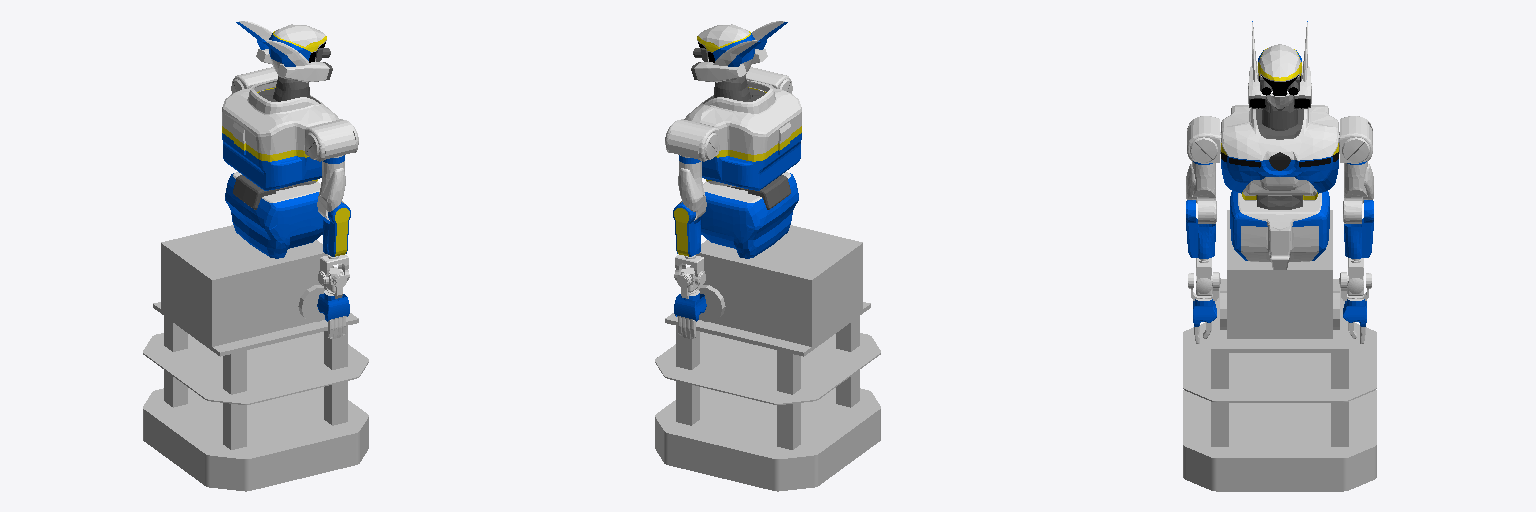
--- What the picture shows (computed from the rendered views, not written in the file) ---
3 views of the same robot in one strip: view 1: azimuth 30°, elevation 25°; view 2: azimuth 150°, elevation 25°; view 3: azimuth 270°, elevation 25° (orthographic).
Model HRP2W with 31 links and 30 joints (20 revolute, 10 fixed), rooted at BODY, posed every joint at zero.
Links seen in each view (by area): view 1: BODY, CHEST_LINK1, HEAD_LINK1, RARM_LINK6, RARM_LINK2, RARM_LINK3, RARM_LINK0, RARM_LINK1, HEAD_LINK0, LARM_LINK0, RARM_LINK4; view 2: BODY, CHEST_LINK1, HEAD_LINK1, LARM_LINK6, LARM_LINK2, LARM_LINK3, LARM_LINK0, LARM_LINK1, HEAD_LINK0, RARM_LINK0, LARM_LINK4; view 3: BODY, CHEST_LINK1, HEAD_LINK1, LARM_LINK2, RARM_LINK2, LARM_LINK0, RARM_LINK0, LARM_LINK3, RARM_LINK3, LARM_LINK6, RARM_LINK6, HEAD_LINK0 (+3 smaller).
Boxes of the visible links, x1,y1,x2,y2 form: BODY: (143, 172, 368, 491); CHEST_LINK1: (222, 80, 339, 190); HEAD_LINK1: (236, 21, 332, 82); RARM_LINK6: (317, 266, 349, 338); RARM_LINK2: (317, 155, 345, 220); RARM_LINK3: (323, 202, 350, 256); RARM_LINK0: (305, 119, 358, 161); RARM_LINK1: (323, 131, 355, 159); HEAD_LINK0: (273, 76, 309, 101); LARM_LINK0: (231, 67, 277, 93); RARM_LINK4: (318, 255, 349, 285); BODY: (655, 172, 880, 491); CHEST_LINK1: (684, 80, 801, 190); HEAD_LINK1: (691, 21, 787, 82); LARM_LINK6: (674, 266, 706, 338); LARM_LINK2: (678, 155, 706, 220); LARM_LINK3: (673, 202, 700, 256); LARM_LINK0: (665, 119, 718, 161); LARM_LINK1: (668, 131, 700, 159); HEAD_LINK0: (714, 76, 750, 101); RARM_LINK0: (746, 67, 792, 93); LARM_LINK4: (674, 255, 705, 285); BODY: (1183, 191, 1376, 491); CHEST_LINK1: (1221, 105, 1338, 200); HEAD_LINK1: (1248, 21, 1311, 108); LARM_LINK2: (1343, 161, 1373, 223); RARM_LINK2: (1186, 161, 1216, 223); LARM_LINK0: (1339, 116, 1372, 163); RARM_LINK0: (1187, 116, 1220, 163); LARM_LINK3: (1344, 200, 1373, 258); RARM_LINK3: (1186, 200, 1215, 258); LARM_LINK6: (1339, 272, 1371, 343); RARM_LINK6: (1188, 272, 1220, 343); HEAD_LINK0: (1262, 93, 1297, 128).
Size in the robot's own frame: 0.6386 by 0.6386 by 1.55 metres.
Meshes: 21 distinct files referenced, 21 mesh visuals loaded (21 Collada DAE).

robot.urdf — HRP2W:
<?xml version="1.0" ?>
<robot name="HRP2W" xmlns:body="http://playerstage.sourceforge.net/gazebo/xmlschema/#body" xmlns:controller="http://playerstage.sourceforge.net/gazebo/xmlschema/#controller" xmlns:gazebo="http://playerstage.sourceforge.net/gazebo/xmlschema/#gz" xmlns:geom="http://playerstage.sourceforge.net/gazebo/xmlschema/#geom" xmlns:interface="http://playerstage.sourceforge.net/gazebo/xmlschema/#interface" xmlns:joint="http://playerstage.sourceforge.net/gazebo/xmlschema/#joint" xmlns:model="http://playerstage.sourceforge.net/gazebo/xmlschema/#model" xmlns:physics="http://playerstage.sourceforge.net/gazebo/xmlschema/#physics" xmlns:renderable="http://playerstage.sourceforge.net/gazebo/xmlschema/#renderable" xmlns:rendering="http://playerstage.sourceforge.net/gazebo/xmlschema/#rendering" xmlns:sensor="http://playerstage.sourceforge.net/gazebo/xmlschema/#sensor" xmlns:xi="http://www.w3.org/2001/XInclude">
	
	
	
	
	
	
	
	
	
	
  
	
	
	
	
	
	
	
	
	
	<link name="BODY">
		
		
		
		
		
		
		
		
		
		
    
		
		
		
		
		
		
		
		
		
		<visual>
			
			
			
			
			
			
			
			
			
			
      
			
			
			
			
			
			
			
			
			
			<origin rpy="0 -0 0" xyz="0 0 0.5805"/>
			
			
			
			
			
			
			
			
			
			
      
			
			
			
			
			
			
			
			
			
			<geometry>
				
				
				
				
				
				
				
				
				
				
        
				
				
				
				
				
				
				
				
				
				<mesh filename="package://hrpsys_ros_bridge_tutorials/models/HRP2W_meshes/BODY_mesh.dae" scale="1 1 1"/>
				
				
				
				
				
				
				
				
				
				
      
			
			
			
			
			
			
			
			
			
			</geometry>
			
			
			
			
			
			
			
			
			
			
    
		
		
		
		
		
		
		
		
		
		</visual>
		
		
		
		
		
		
		
		
		
		
    
		
		
		
		
		
		
		
		
		
		<collision>
			
			
			
			
			
			
			
			
			
			
      
			
			
			
			
			
			
			
			
			
			<origin rpy="0 -0 0" xyz="0 0 0.5805"/>
			
			
			
			
			
			
			
			
			
			
      
			
			
			
			
			
			
			
			
			
			<geometry>
				
				
				
				
				
				
				
				
				
				
        
				
				
				
				
				
				
				
				
				
				<mesh filename="package://hrpsys_ros_bridge_tutorials/models/HRP2W_meshes/BODY_mesh.dae" scale="1 1 1"/>
				
				
				
				
				
				
				
				
				
				
      
			
			
			
			
			
			
			
			
			
			</geometry>
			
			
			
			
			
			
			
			
			
			
    
		
		
		
		
		
		
		
		
		
		</collision>
		
		
		
		
		
		
		
		
		
		
    
		
		
		
		
		
		
		
		
		
		<inertial>
			
			
			
			
			
			
			
			
			
			
      
			
			
			
			
			
			
			
			
			
			<mass value="15.0295"/>
			
			
			
			
			
			
			
			
			
			
      
			
			
			
			
			
			
			
			
			
			<origin rpy="0 -0 0" xyz="-0.0143514 1.2e-07 0.220077"/>
			
			
			
			
			
			
			
			
			
			
      
			
			
			
			
			
			
			
			
			
			<inertia ixx="0.161026" ixy="-2.6504e-07" ixz="0.000706962" iyy="0.09528" iyz="-1.95085e-07" izz="0.191914"/>
			
			
			
			
			
			
			
			
			
			
    
		
		
		
		
		
		
		
		
		
		</inertial>
		
		
		
		
		
		
		
		
		
		
  
	
	
	
	
	
	
	
	
	
	</link>
	
	
	
	
	
	
	
	
	
	
  
	
	
	
	
	
	
	
	
	
	<gazebo reference="BODY">
		
		
		
		
		
		
		
		
		
		
    
		
		
		
		
		
		
		
		
		
		<mu1>0.9</mu1>
		
		
		
		
		
		
		
		
		
		
    
		
		
		
		
		
		
		
		
		
		<mu2>0.9</mu2>
		
		
		
		
		
		
		
		
		
		
  
	
	
	
	
	
	
	
	
	
	</gazebo>
	
	
	
	
	
	
	
	
	
	
  
	
	
	
	
	
	
	
	
	
	<link name="CHEST_LINK0">
		
		
		
		
		
		
		
		
		
		
    
		
		
		
		
		
		
		
		
		
		<visual>
			
			
			
			
			
			
			
			
			
			
      
			
			
			
			
			
			
			
			
			
			<origin rpy="0 -0 0" xyz="0.032 0 0.3507"/>
			
			
			
			
			
			
			
			
			
			
      
			
			
			
			
			
			
			
			
			
			<geometry>
				
				
				
				
				
				
				
				
				
				
        
				
				
				
				
				
				
				
				
				
				<mesh filename="package://hrpsys_ros_bridge_tutorials/models/HRP2W_meshes/CHEST_LINK0_mesh.dae" scale="1 1 1"/>
				
				
				
				
				
				
				
				
				
				
      
			
			
			
			
			
			
			
			
			
			</geometry>
			
			
			
			
			
			
			
			
			
			
    
		
		
		
		
		
		
		
		
		
		</visual>
		
		
		
		
		
		
		
		
		
		
    
		
		
		
		
		
		
		
		
		
		<collision>
			
			
			
			
			
			
			
			
			
			
      
			
			
			
			
			
			
			
			
			
			<origin rpy="0 -0 0" xyz="0.032 0 0.3507"/>
			
			
			
			
			
			
			
			
			
			
      
			
			
			
			
			
			
			
			
			
			<geometry>
				
				
				
				
				
				
				
				
				
				
        
				
				
				
				
				
				
				
				
				
				<mesh filename="package://hrpsys_ros_bridge_tutorials/models/HRP2W_meshes/CHEST_LINK0_mesh.dae" scale="1 1 1"/>
				
				
				
				
				
				
				
				
				
				
      
			
			
			
			
			
			
			
			
			
			</geometry>
			
			
			
			
			
			
			
			
			
			
    
		
		
		
		
		
		
		
		
		
		</collision>
		
		
		
		
		
		
		
		
		
		
    
		
		
		
		
		
		
		
		
		
		<inertial>
			
			
			
			
			
			
			
			
			
			
      
			
			
			
			
			
			
			
			
			
			<mass value="0.786369"/>
			
			
			
			
			
			
			
			
			
			
      
			
			
			
			
			
			
			
			
			
			<origin rpy="0 -0 0" xyz="-0.0158016 0.00529544 -0.0251963"/>
			
			
			
			
			
			
			
			
			
			
      
			
			
			
			
			
			
			
			
			
			<inertia ixx="0.00181617" ixy="-7.322e-05" ixz="-0.00027731" iyy="0.00185079" iyz="-0.00010749" izz="0.00233207"/>
			
			
			
			
			
			
			
			
			
			
    
		
		
		
		
		
		
		
		
		
		</inertial>
		
		
		
		
		
		
		
		
		
		
  
	
	
	
	
	
	
	
	
	
	</link>
	
	
	
	
	
	
	
	
	
	
  
	
	
	
	
	
	
	
	
	
	<gazebo reference="CHEST_LINK0">
		
		
		
		
		
		
		
		
		
		
    
		
		
		
		
		
		
		
		
		
		<mu1>0.9</mu1>
		
		
		
		
		
		
		
		
		
		
    
		
		
		
		
		
		
		
		
		
		<mu2>0.9</mu2>
		
		
		
		
		
		
		
		
		
		
  
	
	
	
	
	
	
	
	
	
	</gazebo>
	
	
	
	
	
	
	
	
	
	
  
	
	
	
	
	
	
	
	
	
	<link name="CHEST_LINK1">
		
		
		
		
		
		
		
		
		
		
    
		
		
		
		
		
		
		
		
		
		<visual>
			
			
			
			
			
			
			
			
			
			
      
			
			
			
			
			
			
			
			
			
			<origin rpy="0 -0 0" xyz="0 0 0"/>
			
			
			
			
			
			
			
			
			
			
      
			
			
			
			
			
			
			
			
			
			<geometry>
				
				
				
				
				
				
				
				
				
				
        
				
				
				
				
				
				
				
				
				
				<mesh filename="package://hrpsys_ros_bridge_tutorials/models/HRP2W_meshes/CHEST_LINK1_mesh.dae" scale="1 1 1"/>
				
				
				
				
				
				
				
				
				
				
      
			
			
			
			
			
			
			
			
			
			</geometry>
			
			
			
			
			
			
			
			
			
			
    
		
		
		
		
		
		
		
		
		
		</visual>
		
		
		
		
		
		
		
		
		
		
    
		
		
		
		
		
		
		
		
		
		<collision>
			
			
			
			
			
			
			
			
			
			
      
			
			
			
			
			
			
			
			
			
			<origin rpy="0 -0 0" xyz="0 0 0"/>
			
			
			
			
			
			
			
			
			
			
      
			
			
			
			
			
			
			
			
			
			<geometry>
				
				
				
				
				
				
				
				
				
				
        
				
				
				
				
				
				
				
				
				
				<mesh filename="package://hrpsys_ros_bridge_tutorials/models/HRP2W_meshes/CHEST_LINK1_mesh.dae" scale="1 1 1"/>
				
				
				
				
				
				
				
				
				
				
      
			
			
			
			
			
			
			
			
			
			</geometry>
			
			
			
			
			
			
			
			
			
			
    
		
		
		
		
		
		
		
		
		
		</collision>
		
		
		
		
		
		
		
		
		
		
    
		
		
		
		
		
		
		
		
		
		<inertial>
			
			
			
			
			
			
			
			
			
			
      
			
			
			
			
			
			
			
			
			
			<mass value="11.5246"/>
			
			
			
			
			
			
			
			
			
			
      
			
			
			
			
			
			
			
			
			
			<origin rpy="0 -0 0" xyz="-0.0290496 0.00716411 0.121025"/>
			
			
			
			
			
			
			
			
			
			
      
			
			
			
			
			
			
			
			
			
			<inertia ixx="0.160476" ixy="-0.00135932" ixz="-0.00414493" iyy="0.136846" iyz="0.00388036" izz="0.181669"/>
			
			
			
			
			
			
			
			
			
			
    
		
		
		
		
		
		
		
		
		
		</inertial>
		
		
		
		
		
		
		
		
		
		
  
	
	
	
	
	
	
	
	
	
	</link>
	
	
	
	
	
	
	
	
	
	
  
	
	
	
	
	
	
	
	
	
	<gazebo reference="CHEST_LINK1">
		
		
		
		
		
		
		
		
		
		
    
		
		
		
		
		
		
		
		
		
		<mu1>0.9</mu1>
		
		
		
		
		
		
		
		
		
		
    
		
		
		
		
		
		
		
		
		
		<mu2>0.9</mu2>
		
		
		
		
		
		
		
		
		
		
  
	
	
	
	
	
	
	
	
	
	</gazebo>
	
	
	
	
	
	
	
	
	
	
  
	
	
	
	
	
	
	
	
	
	<link name="HEAD_LINK0">
		
		
		
		
		
		
		
		
		
		
    
		
		
		
		
		
		
		
		
		
		<visual>
			
			
			
			
			
			
			
			
			
			
      
			
			
			
			
			
			
			
			
			
			<origin rpy="0 -0 0" xyz="-0.007 0 0.2973"/>
			
			
			
			
			
			
			
			
			
			
      
			
			
			
			
			
			
			
			
			
			<geometry>
				
				
				
				
				
				
				
				
				
				
        
				
				
				
				
				
				
				
				
				
				<mesh filename="package://hrpsys_ros_bridge_tutorials/models/HRP2W_meshes/HEAD_LINK0_mesh.dae" scale="1 1 1"/>
				
				
				
				
				
				
				
				
				
				
      
			
			
			
			
			
			
			
			
			
			</geometry>
			
			
			
			
			
			
			
			
			
			
    
		
		
		
		
		
		
		
		
		
		</visual>
		
		
		
		
		
		
		
		
		
		
    
		
		
		
		
		
		
		
		
		
		<collision>
			
			
			
			
			
			
			
			
			
			
      
			
			
			
			
			
			
			
			
			
			<origin rpy="0 -0 0" xyz="-0.007 0 0.2973"/>
			
			
			
			
			
			
			
			
			
			
      
			
			
			
			
			
			
			
			
			
			<geometry>
				
				
				
				
				
				
				
				
				
				
        
				
				
				
				
				
				
				
				
				
				<mesh filename="package://hrpsys_ros_bridge_tutorials/models/HRP2W_meshes/HEAD_LINK0_mesh.dae" scale="1 1 1"/>
				
				
				
				
				
				
				
				
				
				
      
			
			
			
			
			
			
			
			
			
			</geometry>
			
			
			
			
			
			
			
			
			
			
    
		
		
		
		
		
		
		
		
		
		</collision>
		
		
		
		
		
		
		
		
		
		
    
		
		
		
		
		
		
		
		
		
		<inertial>
			
			
			
			
			
			
			
			
			
			
      
			
			
			
			
			
			
			
			
			
			<mass value="0.362181"/>
			
			
			
			
			
			
			
			
			
			
      
			
			
			
			
			
			
			
			
			
			<origin rpy="0 -0 0" xyz="-0.00090801 0.00274824 -0.00825901"/>
			
			
			
			
			
			
			
			
			
			
      
			
			
			
			
			
			
			
			
			
			<inertia ixx="0.00038285" ixy="-5.2e-07" ixz="2.24e-06" iyy="0.00021609" iyz="-7.26e-06" izz="0.0003473"/>
			
			
			
			
			
			
			
			
			
			
    
		
		
		
		
		
		
		
		
		
		</inertial>
		
		
		
		
		
		
		
		
		
		
  
	
	
	
	
	
	
	
	
	
	</link>
	
	
	
	
	
	
	
	
	
	
  
	
	
	
	
	
	
	
	
	
	<gazebo reference="HEAD_LINK0">
		
		
		
		
		
		
		
		
		
		
    
		
		
		
		
		
		
		
		
		
		<mu1>0.9</mu1>
		
		
		
		
		
		
		
		
		
		
    
		
		
		
		
		
		
		
		
		
		<mu2>0.9</mu2>
		
		
		
		
		
		
		
		
		
		
  
	
	
	
	
	
	
	
	
	
	</gazebo>
	
	
	
	
	
	
	
	
	
	
  
	
	
	
	
	
	
	
	
	
	<link name="HEAD_LINK1">
		
		
		
		
		
		
		
		
		
		
    
		
		
		
		
		
		
		
		
		
		<visual>
			
			
			
			
			
			
			
			
			
			
      
			
			
			
			
			
			
			
			
			
			<origin rpy="0 -0 0" xyz="0 0 0.03"/>
			
			
			
			
			
			
			
			
			
			
      
			
			
			
			
			
			
			
			
			
			<geometry>
				
				
				
				
				
				
				
				
				
				
        
				
				
				
				
				
				
				
				
				
				<mesh filename="package://hrpsys_ros_bridge_tutorials/models/HRP2W_meshes/HEAD_LINK1_mesh.dae" scale="1 1 1"/>
				
				
				
				
				
				
				
				
				
				
      
			
			
			
			
			
			
			
			
			
			</geometry>
			
			
			
			
			
			
			
			
			
			
    
		
		
		
		
		
		
		
		
		
		</visual>
		
		
		
		
		
		
		
		
		
		
    
		
		
		
		
		
		
		
		
		
		<collision>
			
			
			
			
			
			
			
			
			
			
      
			
			
			
			
			
			
			
			
			
			<origin rpy="0 -0 0" xyz="0 0 0.03"/>
			
			
			
			
			
			
			
			
			
			
      
			
			
			
			
			
			
			
			
			
			<geometry>
				
				
				
				
				
				
				
				
				
				
        
				
				
				
				
				
				
				
				
				
				<mesh filename="package://hrpsys_ros_bridge_tutorials/models/HRP2W_meshes/HEAD_LINK1_mesh.dae" scale="1 1 1"/>
				
				
				
				
				
				
				
				
				
				
      
			
			
			
			
			
			
			
			
			
			</geometry>
			
			
			
			
			
			
			
			
			
			
    
		
		
		
		
		
		
		
		
		
		</collision>
		
		
		
		
		
		
		
		
		
		
    
		
		
		
		
		
		
		
		
		
		<inertial>
			
			
			
			
			
			
			
			
			
			
      
			
			
			
			
			
			
			
			
			
			<mass value="0.921545"/>
			
			
			
			
			
			
			
			
			
			
      
			
			
			
			
			
			
			
			
			
			<origin rpy="0 -0 0" xyz="0.00900923 -0.00054084 0.0888815"/>
			
			
			
			
			
			
			
			
			
			
      
			
			
			
			
			
			
			
			
			
			<inertia ixx="0.00393357" ixy="4.68e-06" ixz="7.928e-05" iyy="0.00413822" iyz="-9.051e-05" izz="0.00524469"/>
			
			
			
			
			
			
			
			
			
			
    
		
		
		
		
		
		
		
		
		
		</inertial>
		
		
		
		
		
		
		
		
		
		
  
	
	
	
	
	
	
	
	
	
	</link>
	
	
	
	
	
	
	
	
	
	
  
	
	
	
	
	
	
	
	
	
	<gazebo reference="HEAD_LINK1">
		
		
		
		
		
		
		
		
		
		
    
		
		
		
		
		
		
		
		
		
		<mu1>0.9</mu1>
		
		
		
		
		
		
		
		
		
		
    
		
		
		
		
		
		
		
		
		
		<mu2>0.9</mu2>
		
		
		
		
		
		
		
		
		
		
  
	
	
	
	
	
	
	
	
	
	</gazebo>
	
	
	
	
	
	
	
	
	
	
  
	
	
	
	
	
	
	
	
	
	<link name="LARM_LINK0">
		
		
		
		
		
		
		
		
		
		
    
		
		
		
		
		
		
		
		
		
		<visual>
			
			
			
			
			
			
			
			
			
			
      
			
			
			
			
			
			
			
			
			
			<origin rpy="0 -0 0" xyz="0.008 0.25 0.181"/>
			
			
			
			
			
			
			
			
			
			
      
			
			
			
			
			
			
			
			
			
			<geometry>
				
				
				
				
				
				
				
				
				
				
        
				
				
				
				
				
				
				
				
				
				<mesh filename="package://hrpsys_ros_bridge_tutorials/models/HRP2W_meshes/LARM_LINK0_mesh.dae" scale="1 1 1"/>
				
				
				
				
				
				
				
				
				
				
      
			
			
			
			
			
			
			
			
			
			</geometry>
			
			
			
			
			
			
			
			
			
			
    
		
		
		
		
		
		
		
		
		
		</visual>
		
		
		
		
		
		
		
		
		
		
    
		
		
		
		
		
		
		
		
		
		<collision>
			
			
			
			
			
			
			
			
			
			
      
			
			
			
			
			
			
			
			
			
			<origin rpy="0 -0 0" xyz="0.008 0.25 0.181"/>
			
			
			
			
			
			
			
			
			
			
      
			
			
			
			
			
			
			
			
			
			<geometry>
				
				
				
				
				
				
				
				
				
				
        
				
				
				
				
				
				
				
				
				
				<mesh filename="package://hrpsys_ros_bridge_tutorials/models/HRP2W_meshes/LARM_LINK0_mesh.dae" scale="1 1 1"/>
				
				
				
				
				
				
				
				
				
				
      
			
			
			
			
			
			
			
			
			
			</geometry>
			
			
			
			
			
			
			
			
			
			
    
		
		
		
		
		
		
		
		
		
		</collision>
		
		
		
		
		
		
		
		
		
		
    
		
		
		
		
		
		
		
		
		
		<inertial>
			
			
			
			
			
			
			
			
			
			
      
			
			
			
			
			
			
			
			
			
			<mass value="0.810076"/>
			
			
			
			
			
			
			
			
			
			
      
			
			
			
			
			
			
			
			
			
			<origin rpy="0 -0 0" xyz="-0.00989448 -0.0464526 -0.00015316"/>
			
			
			
			
			
			
			
			
			
			
      
			
			
			
			
			
			
			
			
			
			<inertia ixx="0.00221115" ixy="0.00030424" ixz="1.47e-06" iyy="0.00184189" iyz="-4.667e-05" izz="0.00344772"/>
			
			
			
			
			
			
			
			
			
			
    
		
		
		
		
		
		
		
		
		
		</inertial>
		
		
		
		
		
		
		
		
		
		
  
	
	
	
	
	
	
	
	
	
	</link>
	
	
	
	
	
	
	
	
	
	
  
	
	
	
	
	
	
	
	
	
	<gazebo reference="LARM_LINK0">
		
		
		
		
		
		
		
		
		
		
    
		
		
		
		
		
		
		
		
		
		<mu1>0.9</mu1>
		
		
		
		
		
		
		
		
		
		
    
		
		
		
		
		
		
		
		
		
		<mu2>0.9</mu2>
		
		
		
		
		
		
		
		
		
		
  
	
	
	
	
	
	
	
	
	
	</gazebo>
	
	
	
	
	
	
	
	
	
	
  
	
	
	
	
	
	
	
	
	
	<link name="LARM_LINK1">
		
		
		
		
		
		
		
		
		
		
    
		
		
		
		
		
		
		
		
		
		<visual>
			
			
			
			
			
			
			
			
			
			
      
			
			
			
			
			
			
			
			
			
			<origin rpy="0 -0 0" xyz="0 0 0"/>
			
			
			
			
			
			
			
			
			
			
      
			
			
			
			
			
			
			
			
			
			<geometry>
				
				
				
				
				
				
				
				
				
				
        
				
				
				
				
				
				
				
				
				
				<mesh filename="package://hrpsys_ros_bridge_tutorials/models/HRP2W_meshes/LARM_LINK1_mesh.dae" scale="1 1 1"/>
				
				
				
				
				
				
				
				
				
				
      
			
			
			
			
			
			
			
			
			
			</geometry>
			
			
			
			
			
			
			
			
			
			
    
		
		
		
		
		
		
		
		
		
		</visual>
		
		
		
		
		
		
		
		
		
		
    
		
		
		
		
		
		
		
		
		
		<collision>
			
			
			
			
			
			
			
			
			
			
      
			
			
			
			
			
			
			
			
			
			<origin rpy="0 -0 0" xyz="0 0 0"/>
			
			
			
			
			
			
			
			
			
			
      
			
			
			
			
			
			
			
			
			
			<geometry>
				
				
				
				
				
				
				
				
				
				
        
				
				
				
				
				
				
				
				
				
				<mesh filename="package://hrpsys_ros_bridge_tutorials/models/HRP2W_meshes/LARM_LINK1_mesh.dae" scale="1 1 1"/>
				
				
				
				
				
				
				
				
				
				
      
			
			
			
			
			
			
			
			
			
			</geometry>
			
			
			
			
			
			
			
			
			
			
    
		
		
		
		
		
		
		
		
		
		</collision>
		
		
		
		
		
		
		
		
		
		
    
		
		
		
		
		
		
		
		
		
		<inertial>
			
			
			
			
			
			
			
			
			
			
      
			
			
			
			
			
			
			
			
			
			<mass value="1.03448"/>
			
			
			
			
			
			
			
			
			
			
      
			
			
			
			
			
			
			
			
			
			<origin rpy="0 -0 0" xyz="-0.0105646 0.0120429 -0.00948156"/>
			
			
			
			
			
			
			
			
			
			
      
			
			
			
			
			
			
			
			
			
			<inertia ixx="0.00122098" ixy="-0.00028119" ixz="9.407e-05" iyy="0.00172216" iyz="-0.00012041" izz="0.00161319"/>
			
			
			
			
			
			
			
			
			
			
    
		
		
		
		
		
		
		
		
		
		</inertial>
		
		
		
		
		
		
		
		
		
		
  
	
	
	
	
	
	
	
	
	
	</link>
	
	
	
	
	
	
	
	
	
	
  
	
	
	
	
	
	
	
	
	
	<gazebo reference="LARM_LINK1">
		
		
		
		
		
		
		
		
		
		
    
		
		
		
		
		
		
		
		
		
		<mu1>0.9</mu1>
		
		
		
		
		
		
		
		
		
		
    
		
		
		
		
		
		
		
		
		
		<mu2>0.9</mu2>
		
		
		
		
		
		
		
		
		
		
  
	
	
	
	
	
	
	
	
	
	</gazebo>
	
	
	
	
	
	
	
	
	
	
  
	
	
	
	
	
	
	
	
	
	<link name="LARM_LINK2">
		
		
		
		
		
		
		
		
		
		
    
		
		
		
		
		
		
		
		
		
		<visual>
			
			
			
			
			
			
			
			
			
			
      
			
			
			
			
			
			
			
			
			
			<origin rpy="0 -0 0" xyz="0 0 0"/>
			
			
			
			
			
			
			
			
			
			
      
			
			
			
			
			
			
			
			
			
			<geometry>
				
				
				
				
				
				
				
				
				
				
        
				
				
				
				
				
				
				
				
				
				<mesh filename="package://hrpsys_ros_bridge_tutorials/models/HRP2W_meshes/LARM_LINK2_mesh.dae" scale="1 1 1"/>
				
				
				
				
				
				
				
				
				
				
      
			
			
			
			
			
			
			
			
			
			</geometry>
			
			
			
			
			
			
			
			
			
			
    
		
		
		
		
		
		
		
		
		
		</visual>
		
		
		
		
		
		
		
		
		
		
    
		
		
		
		
		
		
		
		
		
		<collision>
			
			
			
			
			
			
			
			
			
			
      
			
			
			
			
			
			
			
			
			
			<origin rpy="0 -0 0" xyz="0 0 0"/>
			
			
			
			
			
			
			
			
			
			
      
			
			
			
			
			
			
			
			
			
			<geometry>
				
				
				
				
				
				
				
				
				
				
        
				
				
				
				
				
				
				
				
				
				<mesh filename="package://hrpsys_ros_bridge_tutorials/models/HRP2W_meshes/LARM_LINK2_mesh.dae" scale="1 1 1"/>
				
				
				
				
				
				
				
				
				
				
      
			
			
			
			
			
			
			
			
			
			</geometry>
			
			
			
			
			
			
			
			
			
			
    
		
		
		
		
		
		
		
		
		
		</collision>
		
		
		
		
		
		
		
		
		
		
    
		
		
		
		
		
		
		
		
		
		<inertial>
			
			
			
			
			
			
			
			
			
			
      
			
			
			
			
			
			
			
			
			
			<mass value="1.59929"/>
			
			
			
			
			
			
			
			
			
			
      
			
			
			
			
			
			
			
			
			
			<origin rpy="0 -0 0" xyz="-0.00543072 0.00479797 -0.166872"/>
			
			
			
			
			
			
			
			
			
			
      
			
			
			
			
			
			
			
			
			
			<inertia ixx="0.00973049" ixy="5.13304e-05" ixz="-0.000199167" iyy="0.00970372" iyz="-0.000137469" izz="0.00135331"/>
			
			
			
			
			
			
			
			
			
			
    
		
		
		
		
		
		
		
		
		
		</inertial>
		
		
		
		
		
		
		
		
		
		
  
	
	
	
	
	
	
	
	
	
	</link>
	
	
	
	
	
	
	
	
	
	
  
	
	
	
	
	
	
	
	
	
	<gazebo reference="LARM_LINK2">
		
		
		
		
		
		
		
		
		
		
    
		
		
		
		
		
		
		
		
		
		<mu1>0.9</mu1>
		
		
		
		
		
		
		
		
		
		
    
		
		
		
		
		
		
		
		
		
		<mu2>0.9</mu2>
		
		
		
		
		
		
		
		
		
		
  
	
	
	
	
	
	
	
	
	
	</gazebo>
	
	
	
	
	
	
	
	
	
	
  
	
	
	
	
	
	
	
	
	
	<link name="LARM_LINK3">
		
		
		
		
		
		
		
		
		
		
    
		
		
		
		
		
		
		
		
		
		<visual>
			
			
			
			
			
			
			
			
			
			
      
			
			
			
			
			
			
			
			
			
			<origin rpy="0 -0 0" xyz="0 0 -0.25"/>
			
			
			
			
			
			
			
			
			
			
      
			
			
			
			
			
			
			
			
			
			<geometry>
				
				
				
				
				
				
				
				
				
				
        
				
				
				
				
				
				
				
				
				
				<mesh filename="package://hrpsys_ros_bridge_tutorials/models/HRP2W_meshes/LARM_LINK3_mesh.dae" scale="1 1 1"/>
				
				
				
				
				
				
				
				
				
				
      
			
			
			
			
			
			
			
			
			
			</geometry>
			
			
			
			
			
			
			
			
			
			
    
		
		
		
		
		
		
		
		
		
		</visual>
		
		
		
		
		
		
		
		
		
		
    
		
		
		
		
		
		
		
		
		
		<collision>
			
			
			
			
			
			
			
			
			
			
      
			
			
			
			
			
			
			
			
			
			<origin rpy="0 -0 0" xyz="0 0 -0.25"/>
			
			
			
			
			
			
			
			
			
			
      
			
			
			
			
			
			
			
			
			
			<geometry>
				
				
				
				
				
				
				
				
				
				
        
				
				
				
				
				
				
				
				
				
				<mesh filename="package://hrpsys_ros_bridge_tutorials/models/HRP2W_meshes/LARM_LINK3_mesh.dae" scale="1 1 1"/>
				
				
				
				
				
				
				
				
				
				
      
			
			
			
			
			
			
			
			
			
			</geometry>
			
			
			
			
			
			
			
			
			
			
    
		
		
		
		
		
		
		
		
		
		</collision>
		
		
		
		
		
		
		
		
		
		
    
		
		
		
		
		
		
		
		
		
		<inertial>
			
			
			
			
			
			
			
			
			
			
      
			
			
			
			
			
			
			
			
			
			<mass value="0.77725"/>
			
			
			
			
			
			
			
			
			
			
      
			
			
			
			
			
			
			
			
			
			<origin rpy="0 -0 0" xyz="-9.27e-06 0.0161684 -0.0627015"/>
			
			
			
			
			
			
			
			
			
			
      
			
			
			
			
			
			
			
			
			
			<inertia ixx="0.00232668" ixy="-7e-08" ixz="-3.1e-07" iyy="0.00212476" iyz="-0.00015097" izz="0.00056363"/>
			
			
			
			
			
			
			
			
			
			
    
		
		
		
		
		
		
		
		
		
		</inertial>
		
		
		
		
		
		
		
		
		
		
  
	
	
	
	
	
	
	
	
	
	</link>
	
	
	
	
	
	
	
	
	
	
  
	
	
	
	
	
	
	
	
	
	<gazebo reference="LARM_LINK3">
		
		
		
		
		
		
		
		
		
		
    
		
		
		
		
		
		
		
		
		
		<mu1>0.9</mu1>
		
		
		
		
		
		
		
		
		
		
    
		
		
		
		
		
		
		
		
		
		<mu2>0.9</mu2>
		
		
		
		
		
		
		
		
		
		
  
	
	
	
	
	
	
	
	
	
	</gazebo>
	
	
	
	
	
	
	
	
	
	
  
	
	
	
	
	
	
	
	
	
	<link name="LARM_LINK4">
		
		
		
		
		
		
		
		
		
		
    
		
		
		
		
		
		
		
		
		
		<visual>
			
			
			
			
			
			
			
			
			
			
      
			
			
			
			
			
			
			
			
			
			<origin rpy="0 -0 0" xyz="0 0 -0.25"/>
			
			
			
			
			
			
			
			
			
			
      
			
			
			
			
			
			
			
			
			
			<geometry>
				
				
				
				
				
				
				
				
				
				
        
				
				
				
				
				
				
				
				
				
				<mesh filename="package://hrpsys_ros_bridge_tutorials/models/HRP2W_meshes/LARM_LINK4_mesh.dae" scale="1 1 1"/>
				
				
				
				
				
				
				
				
				
				
      
			
			
			
			
			
			
			
			
			
			</geometry>
			
			
			
			
			
			
			
			
			
			
    
		
		
		
		
		
		
		
		
		
		</visual>
		
		
		
		
		
		
		
		
		
		
    
		
		
		
		
		
		
		
		
		
		<collision>
			
			
			
			
			
			
			
			
			
			
      
			
			
			
			
			
			
			
			
			
			<origin rpy="0 -0 0" xyz="0 0 -0.25"/>
			
			
			
			
			
			
			
			
			
			
      
			
			
			
			
			
			
			
			
			
			<geometry>
				
				
				
				
				
				
				
				
				
				
        
				
				
				
				
				
				
				
				
				
				<mesh filename="package://hrpsys_ros_bridge_tutorials/models/HRP2W_meshes/LARM_LINK4_mesh.dae" scale="1 1 1"/>
				
				
				
				
				
				
				
				
				
				
      
			
			
			
			
			
			
			
			
			
			</geometry>
			
			
			
			
			
			
			
			
			
			
    
		
		
		
		
		
		
		
		
		
		</collision>
		
		
		
		
		
		
		
		
		
		
    
		
		
		
		
		
		
		
		
		
		<inertial>
			
			
			
			
			
			
			
			
			
			
      
			
			
			
			
			
			
			
			
			
			<mass value="0.328543"/>
			
			
			
			
			
			
			
			
			
			
      
			
			
			
			
			
			
			
			
			
			<origin rpy="0 -0 0" xyz="-0.00840122 -1.406e-05 0.0472199"/>
			
			
			
			
			
			
			
			
			
			
      
			
			
			
			
			
			
			
			
			
			<inertia ixx="0.00084438" ixy="4e-08" ixz="-0.00013812" iyy="0.00105692" iyz="2.3e-07" izz="0.00034468"/>
			
			
			
			
			
			
			
			
			
			
    
		
		
		
		
		
		
		
		
		
		</inertial>
		
		
		
		
		
		
		
		
		
		
  
	
	
	
	
	
	
	
	
	
	</link>
	
	
	
	
	
	
	
	
	
	
  
	
	
	
	
	
	
	
	
	
	<gazebo reference="LARM_LINK4">
		
		
		
		
		
		
		
		
		
		
    
		
		
		
		
		
		
		
		
		
		<mu1>0.9</mu1>
		
		
		
		
		
		
		
		
		
		
    
		
		
		
		
		
		
		
		
		
		<mu2>0.9</mu2>
		
		
		
		
		
		
		
		
		
		
  
	
	
	
	
	
	
	
	
	
	</gazebo>
	
	
	
	
	
	
	
	
	
	
  
	
	
	
	
	
	
	
	
	
	<link name="LARM_LINK5">
		
		
		
		
		
		
		
		
		
		
    
		
		
		
		
		
		
		
		
		
		<visual>
			
			
			
			
			
			
			
			
			
			
      
			
			
			
			
			
			
			
			
			
			<origin rpy="0 -0 0" xyz="0 0 0"/>
			
			
			
			
			
			
			
			
			
			
      
			
			
			
			
			
			
			
			
			
			<geometry>
				
				
				
				
				
				
				
				
				
				
        
				
				
				
				
				
				
				
				
				
				<mesh filename="package://hrpsys_ros_bridge_tutorials/models/HRP2W_meshes/LARM_LINK5_mesh.dae" scale="1 1 1"/>
				
				
				
				
				
				
				
				
				
				
      
			
			
			
			
			
			
			
			
			
			</geometry>
			
			
			
			
			
			
			
			
			
			
    
		
		
		
		
		
		
		
		
		
		</visual>
		
		
		
		
		
		
		
		
		
		
    
		
		
		
		
		
		
		
		
		
		<collision>
			
			
			
			
			
			
			
			
			
			
      
			
			
			
			
			
			
			
			
			
			<origin rpy="0 -0 0" xyz="0 0 0"/>
			
			
			
			
			
			
			
			
			
			
      
			
			
			
			
			
			
			
			
			
			<geometry>
				
				
				
				
				
				
				
				
				
				
        
				
				
				
				
				
				
				
				
				
				<mesh filename="package://hrpsys_ros_bridge_tutorials/models/HRP2W_meshes/LARM_LINK5_mesh.dae" scale="1 1 1"/>
				
				
				
				
				
				
				
				
				
				
      
			
			
			
			
			
			
			
			
			
			</geometry>
			
			
			
			
			
			
			
			
			
			
    
		
		
		
		
		
		
		
		
		
		</collision>
		
		
		
		
		
		
		
		
		
		
    
		
		
		
		
		
		
		
		
		
		<inertial>
			
			
			
			
			
			
			
			
			
			
      
			
			
			
			
			
			
			
			
			
			<mass value="0.460767"/>
			
			
			
			
			
			
			
			
			
			
      
			
			
			
			
			
			
			
			
			
			<origin rpy="0 -0 0" xyz="0.00361678 0.00180569 -0.00656872"/>
			
			
			
			
			
			
			
			
			
			
      
			
			
			
			
			
			
			
			
			
			<inertia ixx="0.00026432" ixy="3.17e-06" ixz="-1.177e-05" iyy="0.0002938" iyz="-1.08e-05" izz="0.0002986"/>
			
			
			
			
			
			
			
			
			
			
    
		
		
		
		
		
		
		
		
		
		</inertial>
		
		
		
		
		
		
		
		
		
		
  
	
	
	
	
	
	
	
	
	
	</link>
	
	
	
	
	
	
	
	
	
	
  
	
	
	
	
	
	
	
	
	
	<gazebo reference="LARM_LINK5">
		
		
		
		
		
		
		
		
		
		
    
		
		
		
		
		
		
		
		
		
		<mu1>0.9</mu1>
		
		
		
		
		
		
		
		
		
		
    
		
		
		
		
		
		
		
		
		
		<mu2>0.9</mu2>
		
		
		
		
		
		
		
		
		
		
  
	
	
	
	
	
	
	
	
	
	</gazebo>
	
	
	
	
	
	
	
	
	
	
  
	
	
	
	
	
	
	
	
	
	<link name="LARM_LINK6">
		
		
		
		
		
		
		
		
		
		
    
		
		
		
		
		
		
		
		
		
		<visual>
			
			
			
			
			
			
			
			
			
			
      
			
			
			
			
			
			
			
			
			
			<origin rpy="0 -0 0" xyz="0 0 0"/>
			
			
			
			
			
			
			
			
			
			
      
			
			
			
			
			
			
			
			
			
			<geometry>
				
				
				
				
				
				
				
				
				
				
        
				
				
				
				
				
				
				
				
				
				<mesh filename="package://hrpsys_ros_bridge_tutorials/models/HRP2W_meshes/LARM_LINK6_mesh.dae" scale="1 1 1"/>
				
				
				
				
				
				
				
				
				
				
      
			
			
			
			
			
			
			
			
			
			</geometry>
			
			
			
			
			
			
			
			
			
			
    
		
		
		
		
		
		
		
		
		
		</visual>
		
		
		
		
		
		
		
		
		
		
    
		
		
		
		
		
		
		
		
		
		<collision>
			
			
			
			
			
			
			
			
			
			
      
			
			
			
			
			
			
			
			
			
			<origin rpy="0 -0 0" xyz="0 0 0"/>
			
			
			
			
			
			
			
			
			
			
      
			
			
			
			
			
			
			
			
			
			<geometry>
				
				
				
				
				
				
				
				
				
				
        
				
				
				
				
				
				
				
				
				
				<mesh filename="package://hrpsys_ros_bridge_tutorials/models/HRP2W_meshes/LARM_LINK6_mesh.dae" scale="1 1 1"/>
				
				
				
				
				
				
				
				
				
				
      
			
			
			
			
			
			
			
			
			
			</geometry>
			
			
			
			
			
			
			
			
			
			
    
		
		
		
		
		
		
		
		
		
		</collision>
		
		
		
		
		
		
		
		
		
		
    
		
		
		
		
		
		
		
		
		
		<inertial>
			
			
			
			
			
			
			
			
			
			
      
			
			
			
			
			
			
			
			
			
			<mass value="0.756491"/>
			
			
			
			
			
			
			
			
			
			
      
			
			
			
			
			
			
			
			
			
			<origin rpy="0 -0 0" xyz="0.00067085 0.00738842 -0.085722"/>
			
			
			
			
			
			
			
			
			
			
      
			
			
			
			
			
			
			
			
			
			<inertia ixx="0.00227076" ixy="6.3e-07" ixz="3.217e-05" iyy="0.00214173" iyz="-3.72e-06" izz="0.00067255"/>
			
			
			
			
			
			
			
			
			
			
    
		
		
		
		
		
		
		
		
		
		</inertial>
		
		
		
		
		
		
		
		
		
		
  
	
	
	
	
	
	
	
	
	
	</link>
	
	
	
	
	
	
	
	
	
	
  
	
	
	
	
	
	
	
	
	
	<gazebo reference="LARM_LINK6">
		
		
		
		
		
		
		
		
		
		
    
		
		
		
		
		
		
		
		
		
		<mu1>0.9</mu1>
		
		
		
		
		
		
		
		
		
		
    
		
		
		
		
		
		
		
		
		
		<mu2>0.9</mu2>
		
		
		
		
		
		
		
		
		
		
  
	
	
	
	
	
	
	
	
	
	</gazebo>
	
	
	
	
	
	
	
	
	
	
  
	
	
	
	
	
	
	
	
	
	<link name="LARM_LINK7">
		
		
		
		
		
		
		
		
		
		
    
		
		
		
		
		
		
		
		
		
		<visual>
			
			
			
			
			
			
			
			
			
			
      
			
			
			
			
			
			
			
			
			
			<origin rpy="0 -0 0" xyz="0 -0.0169 -0.114"/>
			
			
			
			
			
			
			
			
			
			
      
			
			
			
			
			
			
			
			
			
			<geometry>
				
				
				
				
				
				
				
				
				
				
        
				
				
				
				
				
				
				
				
				
				<mesh filename="package://hrpsys_ros_bridge_tutorials/models/HRP2W_meshes/LARM_LINK7_mesh.dae" scale="1 1 1"/>
				
				
				
				
				
				
				
				
				
				
      
			
			
			
			
			
			
			
			
			
			</geometry>
			
			
			
			
			
			
			
			
			
			
    
		
		
		
		
		
		
		
		
		
		</visual>
		
		
		
		
		
		
		
		
		
		
    
		
		
		
		
		
		
		
		
		
		<collision>
			
			
			
			
			
			
			
			
			
			
      
			
			
			
			
			
			
			
			
			
			<origin rpy="0 -0 0" xyz="0 -0.0169 -0.114"/>
			
			
			
			
			
			
			
			
			
			
      
			
			
			
			
			
			
			
			
			
			<geometry>
				
				
				
				
				
				
				
				
				
				
        
				
				
				
				
				
				
				
				
				
				<mesh filename="package://hrpsys_ros_bridge_tutorials/models/HRP2W_meshes/LARM_LINK7_mesh.dae" scale="1 1 1"/>
				
				
				
				
				
				
				
				
				
				
      
			
			
			
			
			
			
			
			
			
			</geometry>
			
			
			
			
			
			
			
			
			
			
    
		
		
		
		
		
		
		
		
		
		</collision>
		
		
		
		
		
		
		
		
		
		
    
		
		
		
		
		
		
		
		
		
		<inertial>
			
			
			
			
			
			
			
			
			
			
      
			
			
			
			
			
			
			
			
			
			<mass value="0.0843421"/>
			
			
			
			
			
			
			
			
			
			
      
			
			
			
			
			
			
			
			
			
			<origin rpy="0 -0 0" xyz="0.00445476 0.00013498 -0.0281197"/>
			
			
			
			
			
			
			
			
			
			
      
			
			
			
			
			
			
			
			
			
			<inertia ixx="8.154e-05" ixy="-5e-08" ixz="1.084e-05" iyy="8.698e-05" iyz="3.1e-07" izz="1.3e-05"/>
			
			
			
			
			
			
			
			
			
			
    
		
		
		
		
		
		
		
		
		
		</inertial>
		
		
		
		
		
		
		
		
		
		
  
	
	
	
	
	
	
	
	
	
	</link>
	
	
	
	
	
	
	
	
	
	
  
	
	
	
	
	
	
	
	
	
	<gazebo reference="LARM_LINK7">
		
		
		
		
		
		
		
		
		
		
    
		
		
		
		
		
		
		
		
		
		<mu1>0.9</mu1>
		
		
		
		
		
		
		
		
		
		
    
		
		
		
		
		
		
		
		
		
		<mu2>0.9</mu2>
		
		
		
		
		
		
		
		
		
		
  
	
	
	
	
	
	
	
	
	
	</gazebo>
	
	
	
	
	
	
	
	
	
	
  
	
	
	
	
	
	
	
	
	
	<link name="RARM_LINK0">
		
		
		
		
		
		
		
		
		
		
    
		
		
		
		
		
		
		
		
		
		<visual>
			
			
			
			
			
			
			
			
			
			
      
			
			
			
			
			
			
			
			
			
			<origin rpy="0 -0 0" xyz="0.008 -0.25 0.181"/>
			
			
			
			
			
			
			
			
			
			
      
			
			
			
			
			
			
			
			
			
			<geometry>
				
				
				
				
				
				
				
				
				
				
        
				
				
				
				
				
				
				
				
				
				<mesh filename="package://hrpsys_ros_bridge_tutorials/models/HRP2W_meshes/RARM_LINK0_mesh.dae" scale="1 1 1"/>
				
				
				
				
				
				
				
				
				
				
      
			
			
			
			
			
			
			
			
			
			</geometry>
			
			
			
			
			
			
			
			
			
			
    
		
		
		
		
		
		
		
		
		
		</visual>
		
		
		
		
		
		
		
		
		
		
    
		
		
		
		
		
		
		
		
		
		<collision>
			
			
			
			
			
			
			
			
			
			
      
			
			
			
			
			
			
			
			
			
			<origin rpy="0 -0 0" xyz="0.008 -0.25 0.181"/>
			
			
			
			
			
			
			
			
			
			
      
			
			
			
			
			
			
			
			
			
			<geometry>
				
				
				
				
				
				
				
				
				
				
        
				
				
				
				
				
				
				
				
				
				<mesh filename="package://hrpsys_ros_bridge_tutorials/models/HRP2W_meshes/RARM_LINK0_mesh.dae" scale="1 1 1"/>
				
				
				
				
				
				
				
				
				
				
      
			
			
			
			
			
			
			
			
			
			</geometry>
			
			
			
			
			
			
			
			
			
			
    
		
		
		
		
		
		
		
		
		
		</collision>
		
		
		
		
		
		
		
		
		
		
    
		
		
		
		
		
		
		
		
		
		<inertial>
			
			
			
			
			
			
			
			
			
			
      
			
			
			
			
			
			
			
			
			
			<mass value="0.810076"/>
			
			
			
			
			
			
			
			
			
			
      
			
			
			
			
			
			
			
			
			
			<origin rpy="0 -0 0" xyz="-0.00989448 0.0464526 -0.00015316"/>
			
			
			
			
			
			
			
			
			
			
      
			
			
			
			
			
			
			
			
			
			<inertia ixx="0.00221115" ixy="-0.00030424" ixz="1.47e-06" iyy="0.00184189" iyz="4.667e-05" izz="0.00344772"/>
			
			
			
			
			
			
			
			
			
			
    
		
		
		
		
		
		
		
		
		
		</inertial>
		
		
		
		
		
		
		
		
		
		
  
	
	
	
	
	
	
	
	
	
	</link>
	
	
	
	
	
	
	
	
	
	
  
	
	
	
	
	
	
	
	
	
	<gazebo reference="RARM_LINK0">
		
		
		
		
		
		
		
		
		
		
    
		
		
		
		
		
		
		
		
		
		<mu1>0.9</mu1>
		
		
		
		
		
		
		
		
		
		
    
		
		
		
		
		
		
		
		
		
		<mu2>0.9</mu2>
		
		
		
		
		
		
		
		
		
		
  
	
	
	
	
	
	
	
	
	
	</gazebo>
	
	
	
	
	
	
	
	
	
	
  
	
	
	
	
	
	
	
	
	
	<link name="RARM_LINK1">
		
		
		
		
		
		
		
		
		
		
    
		
		
		
		
		
		
		
		
		
		<visual>
			
			
			
			
			
			
			
			
			
			
      
			
			
			
			
			
			
			
			
			
			<origin rpy="0 -0 0" xyz="0 0 0"/>
			
			
			
			
			
			
			
			
			
			
      
			
			
			
			
			
			
			
			
			
			<geometry>
				
				
				
				
				
				
				
				
				
				
        
				
				
				
				
				
				
				
				
				
				<mesh filename="package://hrpsys_ros_bridge_tutorials/models/HRP2W_meshes/RARM_LINK1_mesh.dae" scale="1 1 1"/>
				
				
				
				
				
				
				
				
				
				
      
			
			
			
			
			
			
			
			
			
			</geometry>
			
			
			
			
			
			
			
			
			
			
    
		
		
		
		
		
		
		
		
		
		</visual>
		
		
		
		
		
		
		
		
		
		
    
		
		
		
		
		
		
		
		
		
		<collision>
			
			
			
			
			
			
			
			
			
			
      
			
			
			
			
			
			
			
			
			
			<origin rpy="0 -0 0" xyz="0 0 0"/>
			
			
			
			
			
			
			
			
			
			
      
			
			
			
			
			
			
			
			
			
			<geometry>
				
				
				
				
				
				
				
				
				
				
        
				
				
				
				
				
				
				
				
				
				<mesh filename="package://hrpsys_ros_bridge_tutorials/models/HRP2W_meshes/RARM_LINK1_mesh.dae" scale="1 1 1"/>
				
				
				
				
				
				
				
				
				
				
      
			
			
			
			
			
			
			
			
			
			</geometry>
			
			
			
			
			
			
			
			
			
			
    
		
		
		
		
		
		
		
		
		
		</collision>
		
		
		
		
		
		
		
		
		
		
    
		
		
		
		
		
		
		
		
		
		<inertial>
			
			
			
			
			
			
			
			
			
			
      
			
			
			
			
			
			
			
			
			
			<mass value="1.03448"/>
			
			
			
			
			
			
			
			
			
			
      
			
			
			
			
			
			
			
			
			
			<origin rpy="0 -0 0" xyz="-0.0105646 -0.0120429 -0.00948156"/>
			
			
			
			
			
			
			
			
			
			
      
			
			
			
			
			
			
			
			
			
			<inertia ixx="0.00122098" ixy="0.00028119" ixz="9.407e-05" iyy="0.00172216" iyz="0.00012041" izz="0.00161319"/>
			
			
			
			
			
			
			
			
			
			
    
		
		
		
		
		
		
		
		
		
		</inertial>
		
		
		
		
		
		
		
		
		
		
  
	
	
	
	
	
	
	
	
	
	</link>
	
	
	
	
	
	
	
	
	
	
  
	
	
	
	
	
	
	
	
	
	<gazebo reference="RARM_LINK1">
		
		
		
		
		
		
		
		
		
		
    
		
		
		
		
		
		
		
		
		
		<mu1>0.9</mu1>
		
		
		
		
		
		
		
		
		
		
    
		
		
		
		
		
		
		
		
		
		<mu2>0.9</mu2>
		
		
		
		
		
		
		
		
		
		
  
	
	
	
	
	
	
	
	
	
	</gazebo>
	
	
	
	
	
	
	
	
	
	
  
	
	
	
	
	
	
	
	
	
	<link name="RARM_LINK2">
		
		
		
		
		
		
		
		
		
		
    
		
		
		
		
		
		
		
		
		
		<visual>
			
			
			
			
			
			
			
			
			
			
      
			
			
			
			
			
			
			
			
			
			<origin rpy="0 -0 0" xyz="0 0 0"/>
			
			
			
			
			
			
			
			
			
			
      
			
			
			
			
			
			
			
			
			
			<geometry>
				
				
				
				
				
				
				
				
				
				
        
				
				
				
				
				
				
				
				
				
				<mesh filename="package://hrpsys_ros_bridge_tutorials/models/HRP2W_meshes/RARM_LINK2_mesh.dae" scale="1 1 1"/>
				
				
				
				
				
				
				
				
				
				
      
			
			
			
			
			
			
			
			
			
			</geometry>
			
			
			
			
			
			
			
			
			
			
    
		
		
		
		
		
		
		
		
		
		</visual>
		
		
		
		
		
		
		
		
		
		
    
		
		
		
		
		
		
		
		
		
		<collision>
			
			
			
			
			
			
			
			
			
			
      
			
			
			
			
			
			
			
			
			
			<origin rpy="0 -0 0" xyz="0 0 0"/>
			
			
			
			
			
			
			
			
			
			
      
			
			
			
			
			
			
			
			
			
			<geometry>
				
				
				
				
				
				
				
				
				
				
        
				
				
				
				
				
				
				
				
				
				<mesh filename="package://hrpsys_ros_bridge_tutorials/models/HRP2W_meshes/RARM_LINK2_mesh.dae" scale="1 1 1"/>
				
				
				
				
				
				
				
				
				
				
      
			
			
			
			
			
			
			
			
			
			</geometry>
			
			
			
			
			
			
			
			
			
			
    
		
		
		
		
		
		
		
		
		
		</collision>
		
		
		
		
		
		
		
		
		
		
    
		
		
		
		
		
		
		
		
		
		<inertial>
			
			
			
			
			
			
			
			
			
			
      
			
			
			
			
			
			
			
			
			
			<mass value="1.59929"/>
			
			
			
			
			
			
			
			
			
			
      
			
			
			
			
			
			
			
			
			
			<origin rpy="0 -0 0" xyz="-0.00543072 -0.00479797 -0.166872"/>
			
			
			
			
			
			
			
			
			
			
      
			
			
			
			
			
			
			
			
			
			<inertia ixx="0.00973049" ixy="-5.13304e-05" ixz="-0.000199167" iyy="0.00970372" iyz="0.000137469" izz="0.00135331"/>
			
			
			
			
			
			
			
			
			
			
    
		
		
		
		
		
		
		
		
		
		</inertial>
		
		
		
		
		
		
		
		
		
		
  
	
	
	
	
	
	
	
	
	
	</link>
	
	
	
	
	
	
	
	
	
	
  
	
	
	
	
	
	
	
	
	
	<gazebo reference="RARM_LINK2">
		
		
		
		
		
		
		
		
		
		
    
		
		
		
		
		
		
		
		
		
		<mu1>0.9</mu1>
		
		
		
		
		
		
		
		
		
		
    
		
		
		
		
		
		
		
		
		
		<mu2>0.9</mu2>
		
		
		
		
		
		
		
		
		
		
  
	
	
	
	
	
	
	
	
	
	</gazebo>
	
	
	
	
	
	
	
	
	
	
  
	
	
	
	
	
	
	
	
	
	<link name="RARM_LINK3">
		
		
		
		
		
		
		
		
		
		
    
		
		
		
		
		
		
		
		
		
		<visual>
			
			
			
			
			
			
			
			
			
			
      
			
			
			
			
			
			
			
			
			
			<origin rpy="0 -0 0" xyz="0 0 -0.25"/>
			
			
			
			
			
			
			
			
			
			
      
			
			
			
			
			
			
			
			
			
			<geometry>
				
				
				
				
				
				
				
				
				
				
        
				
				
				
				
				
				
				
				
				
				<mesh filename="package://hrpsys_ros_bridge_tutorials/models/HRP2W_meshes/RARM_LINK3_mesh.dae" scale="1 1 1"/>
				
				
				
				
				
				
				
				
				
				
      
			
			
			
			
			
			
			
			
			
			</geometry>
			
			
			
			
			
			
			
			
			
			
    
		
		
		
		
		
		
		
		
		
		</visual>
		
		
		
		
		
		
		
		
		
		
    
		
		
		
		
		
		
		
		
		
		<collision>
			
			
			
			
			
			
			
			
			
			
      
			
			
			
			
			
			
			
			
			
			<origin rpy="0 -0 0" xyz="0 0 -0.25"/>
			
			
			
			
			
			
			
			
			
			
      
			
			
			
			
			
			
			
			
			
			<geometry>
				
				
				
				
				
				
				
				
				
				
        
				
				
				
				
				
				
				
				
				
				<mesh filename="package://hrpsys_ros_bridge_tutorials/models/HRP2W_meshes/RARM_LINK3_mesh.dae" scale="1 1 1"/>
				
				
				
				
				
				
				
				
				
				
      
			
			
			
			
			
			
			
			
			
			</geometry>
			
			
			
			
			
			
			
			
			
			
    
		
		
		
		
		
		
		
		
		
		</collision>
		
		
		
		
		
		
		
		
		
		
    
		
		
		
		
		
		
		
		
		
		<inertial>
			
			
			
			
			
			
			
			
			
			
      
			
			
			
			
			
			
			
			
			
			<mass value="0.77725"/>
			
			
			
			
			
			
			
			
			
			
      
			
			
			
			
			
			
			
			
			
			<origin rpy="0 -0 0" xyz="-9.27e-06 -0.0161684 -0.0627015"/>
			
			
			
			
			
			
			
			
			
			
      
			
			
			
			
			
			
			
			
			
			<inertia ixx="0.00232668" ixy="7e-08" ixz="-3.1e-07" iyy="0.00212476" iyz="0.00015097" izz="0.00056363"/>
			
			
			
			
			
			
			
			
			
			
    
		
		
		
		
		
		
		
		
		
		</inertial>
		
		
		
		
		
		
		
		
		
		
  
	
	
	
	
	
	
	
	
	
	</link>
	
	
	
	
	
	
	
	
	
	
  
	
	
	
	
	
	
	
	
	
	<gazebo reference="RARM_LINK3">
		
		
		
		
		
		
		
		
		
		
    
		
		
		
		
		
		
		
		
		
		<mu1>0.9</mu1>
		
		
		
		
		
		
		
		
		
		
    
		
		
		
		
		
		
		
		
		
		<mu2>0.9</mu2>
		
		
		
		
		
		
		
		
		
		
  
	
	
	
	
	
	
	
	
	
	</gazebo>
	
	
	
	
	
	
	
	
	
	
  
	
	
	
	
	
	
	
	
	
	<link name="RARM_LINK4">
		
		
		
		
		
		
		
		
		
		
    
		
		
		
		
		
		
		
		
		
		<visual>
			
			
			
			
			
			
			
			
			
			
      
			
			
			
			
			
			
			
			
			
			<origin rpy="0 -0 0" xyz="0 0 -0.25"/>
			
			
			
			
			
			
			
			
			
			
      
			
			
			
			
			
			
			
			
			
			<geometry>
				
				
				
				
				
				
				
				
				
				
        
				
				
				
				
				
				
				
				
				
				<mesh filename="package://hrpsys_ros_bridge_tutorials/models/HRP2W_meshes/RARM_LINK4_mesh.dae" scale="1 1 1"/>
				
				
				
				
				
				
				
				
				
				
      
			
			
			
			
			
			
			
			
			
			</geometry>
			
			
			
			
			
			
			
			
			
			
    
		
		
		
		
		
		
		
		
		
		</visual>
		
		
		
		
		
		
		
		
		
		
    
		
		
		
		
		
		
		
		
		
		<collision>
			
			
			
			
			
			
			
			
			
			
      
			
			
			
			
			
			
			
			
			
			<origin rpy="0 -0 0" xyz="0 0 -0.25"/>
			
			
			
			
			
			
			
			
			
			
      
			
			
			
			
			
			
			
			
			
			<geometry>
				
				
				
				
				
				
				
				
				
				
        
				
				
				
				
				
				
				
				
				
				<mesh filename="package://hrpsys_ros_bridge_tutorials/models/HRP2W_meshes/RARM_LINK4_mesh.dae" scale="1 1 1"/>
				
				
				
				
				
				
				
				
				
				
      
			
			
			
			
			
			
			
			
			
			</geometry>
			
			
			
			
			
			
			
			
			
			
    
		
		
		
		
		
		
		
		
		
		</collision>
		
		
		
		
		
		
		
		
		
		
    
		
		
		
		
		
		
		
		
		
		<inertial>
			
			
			
			
			
			
			
			
			
			
      
			
			
			
			
			
			
			
			
			
			<mass value="0.328543"/>
			
			
			
			
			
			
			
			
			
			
      
			
			
			
			
			
			
			
			
			
			<origin rpy="0 -0 0" xyz="-0.00840122 1.406e-05 0.0472199"/>
			
			
			
			
			
			
			
			
			
			
      
			
			
			
			
			
			
			
			
			
			<inertia ixx="0.00084438" ixy="-4e-08" ixz="-0.00013812" iyy="0.00105692" iyz="-2.3e-07" izz="0.00034468"/>
			
			
			
			
			
			
			
			
			
			
    
		
		
		
		
		
		
		
		
		
		</inertial>
		
		
		
		
		
		
		
		
		
		
  
	
	
	
	
	
	
	
	
	
	</link>
	
	
	
	
	
	
	
	
	
	
  
	
	
	
	
	
	
	
	
	
	<gazebo reference="RARM_LINK4">
		
		
		
		
		
		
		
		
		
		
    
		
		
		
		
		
		
		
		
		
		<mu1>0.9</mu1>
		
		
		
		
		
		
		
		
		
		
    
		
		
		
		
		
		
		
		
		
		<mu2>0.9</mu2>
		
		
		
		
		
		
		
		
		
		
  
	
	
	
	
	
	
	
	
	
	</gazebo>
	
	
	
	
	
	
	
	
	
	
  
	
	
	
	
	
	
	
	
	
	<link name="RARM_LINK5">
		
		
		
		
		
		
		
		
		
		
    
		
		
		
		
		
		
		
		
		
		<visual>
			
			
			
			
			
			
			
			
			
			
      
			
			
			
			
			
			
			
			
			
			<origin rpy="0 -0 0" xyz="0 0 0"/>
			
			
			
			
			
			
			
			
			
			
      
			
			
			
			
			
			
			
			
			
			<geometry>
				
				
				
				
				
				
				
				
				
				
        
				
				
				
				
				
				
				
				
				
				<mesh filename="package://hrpsys_ros_bridge_tutorials/models/HRP2W_meshes/RARM_LINK5_mesh.dae" scale="1 1 1"/>
				
				
				
				
				
				
				
				
				
				
      
			
			
			
			
			
			
			
			
			
			</geometry>
			
			
			
			
			
			
			
			
			
			
    
		
		
		
		
		
		
		
		
		
		</visual>
		
		
		
		
		
		
		
		
		
		
    
		
		
		
		
		
		
		
		
		
		<collision>
			
			
			
			
			
			
			
			
			
			
      
			
			
			
			
			
			
			
			
			
			<origin rpy="0 -0 0" xyz="0 0 0"/>
			
			
			
			
			
			
			
			
			
			
      
			
			
			
			
			
			
			
			
			
			<geometry>
				
				
				
				
				
				
				
				
				
				
        
				
				
				
				
				
				
				
				
				
				<mesh filename="package://hrpsys_ros_bridge_tutorials/models/HRP2W_meshes/RARM_LINK5_mesh.dae" scale="1 1 1"/>
				
				
				
				
				
				
				
				
				
				
      
			
			
			
			
			
			
			
			
			
			</geometry>
			
			
			
			
			
			
			
			
			
			
    
		
		
		
		
		
		
		
		
		
		</collision>
		
		
		
		
		
		
		
		
		
		
    
		
		
		
		
		
		
		
		
		
		<inertial>
			
			
			
			
			
			
			
			
			
			
      
			
			
			
			
			
			
			
			
			
			<mass value="0.460767"/>
			
			
			
			
			
			
			
			
			
			
      
			
			
			
			
			
			
			
			
			
			<origin rpy="0 -0 0" xyz="0.00361678 -0.00180569 -0.00656872"/>
			
			
			
			
			
			
			
			
			
			
      
			
			
			
			
			
			
			
			
			
			<inertia ixx="0.00026432" ixy="-3.17e-06" ixz="-1.177e-05" iyy="0.0002938" iyz="1.08e-05" izz="0.0002986"/>
			
			
			
			
			
			
			
			
			
			
    
		
		
		
		
		
		
		
		
		
		</inertial>
		
		
		
		
		
		
		
		
		
		
  
	
	
	
	
	
	
	
	
	
	</link>
	
	
	
	
	
	
	
	
	
	
  
	
	
	
	
	
	
	
	
	
	<gazebo reference="RARM_LINK5">
		
		
		
		
		
		
		
		
		
		
    
		
		
		
		
		
		
		
		
		
		<mu1>0.9</mu1>
		
		
		
		
		
		
		
		
		
		
    
		
		
		
		
		
		
		
		
		
		<mu2>0.9</mu2>
		
		
		
		
		
		
		
		
		
		
  
	
	
	
	
	
	
	
	
	
	</gazebo>
	
	
	
	
	
	
	
	
	
	
  
	
	
	
	
	
	
	
	
	
	<link name="RARM_LINK6">
		
		
		
		
		
		
		
		
		
		
    
		
		
		
		
		
		
		
		
		
		<visual>
			
			
			
			
			
			
			
			
			
			
      
			
			
			
			
			
			
			
			
			
			<origin rpy="0 -0 0" xyz="0 0 0"/>
			
			
			
			
			
			
			
			
			
			
      
			
			
			
			
			
			
			
			
			
			<geometry>
				
				
				
				
				
				
				
				
				
				
        
				
				
				
				
				
				
				
				
				
				<mesh filename="package://hrpsys_ros_bridge_tutorials/models/HRP2W_meshes/RARM_LINK6_mesh.dae" scale="1 1 1"/>
				
				
				
				
				
				
				
				
				
				
      
			
			
			
			
			
			
			
			
			
			</geometry>
			
			
			
			
			
			
			
			
			
			
    
		
		
		
		
		
		
		
		
		
		</visual>
		
		
		
		
		
		
		
		
		
		
    
		
		
		
		
		
		
		
		
		
		<collision>
			
			
			
			
			
			
			
			
			
			
      
			
			
			
			
			
			
			
			
			
			<origin rpy="0 -0 0" xyz="0 0 0"/>
			
			
			
			
			
			
			
			
			
			
      
			
			
			
			
			
			
			
			
			
			<geometry>
				
				
				
				
				
				
				
				
				
				
        
				
				
				
				
				
				
				
				
				
				<mesh filename="package://hrpsys_ros_bridge_tutorials/models/HRP2W_meshes/RARM_LINK6_mesh.dae" scale="1 1 1"/>
				
				
				
				
				
				
				
				
				
				
      
			
			
			
			
			
			
			
			
			
			</geometry>
			
			
			
			
			
			
			
			
			
			
    
		
		
		
		
		
		
		
		
		
		</collision>
		
		
		
		
		
		
		
		
		
		
    
		
		
		
		
		
		
		
		
		
		<inertial>
			
			
			
			
			
			
			
			
			
			
      
			
			
			
			
			
			
			
			
			
			<mass value="0.756491"/>
			
			
			
			
			
			
			
			
			
			
      
			
			
			
			
			
			
			
			
			
			<origin rpy="0 -0 0" xyz="0.00067085 -0.00738842 -0.085722"/>
			
			
			
			
			
			
			
			
			
			
      
			
			
			
			
			
			
			
			
			
			<inertia ixx="0.00227076" ixy="-6.3e-07" ixz="3.217e-05" iyy="0.00214173" iyz="3.72e-06" izz="0.00067255"/>
			
			
			
			
			
			
			
			
			
			
    
		
		
		
		
		
		
		
		
		
		</inertial>
		
		
		
		
		
		
		
		
		
		
  
	
	
	
	
	
	
	
	
	
	</link>
	
	
	
	
	
	
	
	
	
	
  
	
	
	
	
	
	
	
	
	
	<gazebo reference="RARM_LINK6">
		
		
		
		
		
		
		
		
		
		
    
		
		
		
		
		
		
		
		
		
		<mu1>0.9</mu1>
		
		
		
		
		
		
		
		
		
		
    
		
		
		
		
		
		
		
		
		
		<mu2>0.9</mu2>
		
		
		
		
		
		
		
		
		
		
  
	
	
	
	
	
	
	
	
	
	</gazebo>
	
	
	
	
	
	
	
	
	
	
  
	
	
	
	
	
	
	
	
	
	<link name="RARM_LINK7">
		
		
		
		
		
		
		
		
		
		
    
		
		
		
		
		
		
		
		
		
		<visual>
			
			
			
			
			
			
			
			
			
			
      
			
			
			
			
			
			
			
			
			
			<origin rpy="0 -0 0" xyz="0 0.0169 -0.114"/>
			
			
			
			
			
			
			
			
			
			
      
			
			
			
			
			
			
			
			
			
			<geometry>
				
				
				
				
				
				
				
				
				
				
        
				
				
				
				
				
				
				
				
				
				<mesh filename="package://hrpsys_ros_bridge_tutorials/models/HRP2W_meshes/RARM_LINK7_mesh.dae" scale="1 1 1"/>
				
				
				
				
				
				
				
				
				
				
      
			
			
			
			
			
			
			
			
			
			</geometry>
			
			
			
			
			
			
			
			
			
			
    
		
		
		
		
		
		
		
		
		
		</visual>
		
		
		
		
		
		
		
		
		
		
    
		
		
		
		
		
		
		
		
		
		<collision>
			
			
			
			
			
			
			
			
			
			
      
			
			
			
			
			
			
			
			
			
			<origin rpy="0 -0 0" xyz="0 0.0169 -0.114"/>
			
			
			
			
			
			
			
			
			
			
      
			
			
			
			
			
			
			
			
			
			<geometry>
				
				
				
				
				
				
				
				
				
				
        
				
				
				
				
				
				
				
				
				
				<mesh filename="package://hrpsys_ros_bridge_tutorials/models/HRP2W_meshes/RARM_LINK7_mesh.dae" scale="1 1 1"/>
				
				
				
				
				
				
				
				
				
				
      
			
			
			
			
			
			
			
			
			
			</geometry>
			
			
			
			
			
			
			
			
			
			
    
		
		
		
		
		
		
		
		
		
		</collision>
		
		
		
		
		
		
		
		
		
		
    
		
		
		
		
		
		
		
		
		
		<inertial>
			
			
			
			
			
			
			
			
			
			
      
			
			
			
			
			
			
			
			
			
			<mass value="0.0843421"/>
			
			
			
			
			
			
			
			
			
			
      
			
			
			
			
			
			
			
			
			
			<origin rpy="0 -0 0" xyz="0.00445476 -0.00013498 -0.0281197"/>
			
			
			
			
			
			
			
			
			
			
      
			
			
			
			
			
			
			
			
			
			<inertia ixx="8.154e-05" ixy="5e-08" ixz="1.084e-05" iyy="8.698e-05" iyz="-3.1e-07" izz="1.3e-05"/>
			
			
			
			
			
			
			
			
			
			
    
		
		
		
		
		
		
		
		
		
		</inertial>
		
		
		
		
		
		
		
		
		
		
  
	
	
	
	
	
	
	
	
	
	</link>
	
	
	
	
	
	
	
	
	
	
  
	
	
	
	
	
	
	
	
	
	<gazebo reference="RARM_LINK7">
		
		
		
		
		
		
		
		
		
		
    
		
		
		
		
		
		
		
		
		
		<mu1>0.9</mu1>
		
		
		
		
		
		
		
		
		
		
    
		
		
		
		
		
		
		
		
		
		<mu2>0.9</mu2>
		
		
		
		
		
		
		
		
		
		
  
	
	
	
	
	
	
	
	
	
	</gazebo>
	
	
	
	
	
	
	
	
	
	
  
	
	
	
	
	
	
	
	
	
	<joint name="CHEST_JOINT0" type="revolute">
		
		
		
		
		
		
		
		
		
		
    
		
		
		
		
		
		
		
		
		
		<parent link="BODY"/>
		
		
		
		
		
		
		
		
		
		
    
		
		
		
		
		
		
		
		
		
		<child link="CHEST_LINK0"/>
		
		
		
		
		
		
		
		
		
		
    
		
		
		
		
		
		
		
		
		
		<origin rpy="0 -0 0 " xyz="0.032 0 0.3507"/>
		
		
		
		
		
		
		
		
		
		
    
		
		
		
		
		
		
		
		
		
		<axis xyz="0 0 1"/>
		
		
		
		
		
		
		
		
		
		
    
		
		
		
		
		
		
		
		
		
		<limit effort="151.8" lower="-0.785398" upper="0.785398" velocity="4.40217"/>
		
		
		
		
		
		
		
		
		
		
    
		
		
		
		
		
		
		
		
		
		<dynamics damping="0.2" friction="0"/>
		
		
		
		
		
		
		
		
		
		
  
	
	
	
	
	
	
	
	
	
	</joint>
	
	
	
	
	
	
	
	
	
	
  
	
	
	
	
	
	
	
	
	
	<transmission name="CHEST_JOINT0_trans" type="pr2_mechanism_model/SimpleTransmission">
		
		
		
		
		
		
		
		
		
		
    
		
		
		
		
		
		
		
		
		
		<actuator name="CHEST_JOINT0_motor"/>
		
		
		
		
		
		
		
		
		
		
    
		
		
		
		
		
		
		
		
		
		<joint name="CHEST_JOINT0"/>
		
		
		
		
		
		
		
		
		
		
    
		
		
		
		
		
		
		
		
		
		<mechanicalReduction>1</mechanicalReduction>
		
		
		
		
		
		
		
		
		
		
  
	
	
	
	
	
	
	
	
	
	</transmission>
	
	
	
	
	
	
	
	
	
	
  
	
	
	
	
	
	
	
	
	
	<gazebo reference="CHEST_JOINT0">
		
		
		
		
		
		
		
		
		
		
    
		
		
		
		
		
		
		
		
		
		<cfmDamping>0.4</cfmDamping>
		
		
		
		
		
		
		
		
		
		
  
	
	
	
	
	
	
	
	
	
	</gazebo>
	
	
	
	
	
	
	
	
	
	
  
	
	
	
	
	
	
	
	
	
	<joint name="CHEST_JOINT1" type="revolute">
		
		
		
		
		
		
		
		
		
		
    
		
		
		
		
		
		
		
		
		
		<parent link="CHEST_LINK0"/>
		
		
		
		
		
		
		
		
		
		
    
		
		
		
		
		
		
		
		
		
		<child link="CHEST_LINK1"/>
		
		
		
		
		
		
		
		
		
		
    
		
		
		
		
		
		
		
		
		
		<origin rpy="0 -0 0 " xyz="0 0 0"/>
		
		
		
		
		
		
		
		
		
		
    
		
		
		
		
		
		
		
		
		
		<axis xyz="0 1 0"/>
		
		
		
		
		
		
		
		
		
		
    
		
		
		
		
		
		
		
		
		
		<limit effort="278.9" lower="-0.0872665" upper="1.0472" velocity="2.3963"/>
		
		
		
		
		
		
		
		
		
		
    
		
		
		
		
		
		
		
		
		
		<dynamics damping="0.2" friction="0"/>
		
		
		
		
		
		
		
		
		
		
  
	
	
	
	
	
	
	
	
	
	</joint>
	
	
	
	
	
	
	
	
	
	
  
	
	
	
	
	
	
	
	
	
	<transmission name="CHEST_JOINT1_trans" type="pr2_mechanism_model/SimpleTransmission">
		
		
		
		
		
		
		
		
		
		
    
		
		
		
		
		
		
		
		
		
		<actuator name="CHEST_JOINT1_motor"/>
		
		
		
		
		
		
		
		
		
		
    
		
		
		
		
		
		
		
		
		
		<joint name="CHEST_JOINT1"/>
		
		
		
		
		
		
		
		
		
		
    
		
		
		
		
		
		
		
		
		
		<mechanicalReduction>1</mechanicalReduction>
		
		
		
		
		
		
		
		
		
		
  
	
	
	
	
	
	
	
	
	
	</transmission>
	
	
	
	
	
	
	
	
	
	
  
	
	
	
	
	
	
	
	
	
	<gazebo reference="CHEST_JOINT1">
		
		
		
		
		
		
		
		
		
		
    
		
		
		
		
		
		
		
		
		
		<cfmDamping>0.4</cfmDamping>
		
		
		
		
		
		
		
		
		
		
  
	
	
	
	
	
	
	
	
	
	</gazebo>
	
	
	
	
	
	
	
	
	
	
  
	
	
	
	
	
	
	
	
	
	<joint name="HEAD_JOINT0" type="revolute">
		
		
		
		
		
		
		
		
		
		
    
		
		
		
		
		
		
		
		
		
		<parent link="CHEST_LINK1"/>
		
		
		
		
		
		
		
		
		
		
    
		
		
		
		
		
		
		
		
		
		<child link="HEAD_LINK0"/>
		
		
		
		
		
		
		
		
		
		
    
		
		
		
		
		
		
		
		
		
		<origin rpy="0 -0 0 " xyz="-0.007 0 0.2973"/>
		
		
		
		
		
		
		
		
		
		
    
		
		
		
		
		
		
		
		
		
		<axis xyz="0 0 1"/>
		
		
		
		
		
		
		
		
		
		
    
		
		
		
		
		
		
		
		
		
		<limit effort="9.6" lower="-0.785398" upper="0.785398" velocity="6.87679"/>
		
		
		
		
		
		
		
		
		
		
    
		
		
		
		
		
		
		
		
		
		<dynamics damping="0.2" friction="0"/>
		
		
		
		
		
		
		
		
		
		
  
	
	
	
	
	
	
	
	
	
	</joint>
	
	
	
	
	
	
	
	
	
	
  
	
	
	
	
	
	
	
	
	
	<transmission name="HEAD_JOINT0_trans" type="pr2_mechanism_model/SimpleTransmission">
		
		
		
		
		
		
		
		
		
		
    
		
		
		
		
		
		
		
		
		
		<actuator name="HEAD_JOINT0_motor"/>
		
		
		
		
		
		
		
		
		
		
    
		
		
		
		
		
		
		
		
		
		<joint name="HEAD_JOINT0"/>
		
		
		
		
		
		
		
		
		
		
    
		
		
		
		
		
		
		
		
		
		<mechanicalReduction>1</mechanicalReduction>
		
		
		
		
		
		
		
		
		
		
  
	
	
	
	
	
	
	
	
	
	</transmission>
	
	
	
	
	
	
	
	
	
	
  
	
	
	
	
	
	
	
	
	
	<gazebo reference="HEAD_JOINT0">
		
		
		
		
		
		
		
		
		
		
    
		
		
		
		
		
		
		
		
		
		<cfmDamping>0.4</cfmDamping>
		
		
		
		
		
		
		
		
		
		
  
	
	
	
	
	
	
	
	
	
	</gazebo>
	
	
	
	
	
	
	
	
	
	
  
	
	
	
	
	
	
	
	
	
	<joint name="HEAD_JOINT1" type="revolute">
		
		
		
		
		
		
		
		
		
		
    
		
		
		
		
		
		
		
		
		
		<parent link="HEAD_LINK0"/>
		
		
		
		
		
		
		
		
		
		
    
		
		
		
		
		
		
		
		
		
		<child link="HEAD_LINK1"/>
		
		
		
		
		
		
		
		
		
		
    
		
		
		
		
		
		
		
		
		
		<origin rpy="0 -0 0 " xyz="0 0 0.03"/>
		
		
		
		
		
		
		
		
		
		
    
		
		
		
		
		
		
		
		
		
		<axis xyz="0 1 0"/>
		
		
		
		
		
		
		
		
		
		
    
		
		
		
		
		
		
		
		
		
		<limit effort="15.0857" lower="-0.523599" upper="0.785398" velocity="6.87679"/>
		
		
		
		
		
		
		
		
		
		
    
		
		
		
		
		
		
		
		
		
		<dynamics damping="0.2" friction="0"/>
		
		
		
		
		
		
		
		
		
		
  
	
	
	
	
	
	
	
	
	
	</joint>
	
	
	
	
	
	
	
	
	
	
  
	
	
	
	
	
	
	
	
	
	<transmission name="HEAD_JOINT1_trans" type="pr2_mechanism_model/SimpleTransmission">
		
		
		
		
		
		
		
		
		
		
    
		
		
		
		
		
		
		
		
		
		<actuator name="HEAD_JOINT1_motor"/>
		
		
		
		
		
		
		
		
		
		
    
		
		
		
		
		
		
		
		
		
		<joint name="HEAD_JOINT1"/>
		
		
		
		
		
		
		
		
		
		
    
		
		
		
		
		
		
		
		
		
		<mechanicalReduction>1</mechanicalReduction>
		
		
		
		
		
		
		
		
		
		
  
	
	
	
	
	
	
	
	
	
	</transmission>
	
	
	
	
	
	
	
	
	
	
  
	
	
	
	
	
	
	
	
	
	<gazebo reference="HEAD_JOINT1">
		
		
		
		
		
		
		
		
		
		
    
		
		
		
		
		
		
		
		
		
		<cfmDamping>0.4</cfmDamping>
		
		
		
		
		
		
		
		
		
		
  
	
	
	
	
	
	
	
	
	
	</gazebo>
	
	
	
	
	
	
	
	
	
	
  
	
	
	
	
	
	
	
	
	
	<joint name="LARM_JOINT0" type="revolute">
		
		
		
		
		
		
		
		
		
		
    
		
		
		
		
		
		
		
		
		
		<parent link="CHEST_LINK1"/>
		
		
		
		
		
		
		
		
		
		
    
		
		
		
		
		
		
		
		
		
		<child link="LARM_LINK0"/>
		
		
		
		
		
		
		
		
		
		
    
		
		
		
		
		
		
		
		
		
		<origin rpy="0 -0 0 " xyz="0.008 0.25 0.181"/>
		
		
		
		
		
		
		
		
		
		
    
		
		
		
		
		
		
		
		
		
		<axis xyz="0 1 0"/>
		
		
		
		
		
		
		
		
		
		
    
		
		
		
		
		
		
		
		
		
		<limit effort="160.3" lower="-3.14159" upper="1.0472" velocity="4.17044"/>
		
		
		
		
		
		
		
		
		
		
    
		
		
		
		
		
		
		
		
		
		<dynamics damping="0.2" friction="0"/>
		
		
		
		
		
		
		
		
		
		
  
	
	
	
	
	
	
	
	
	
	</joint>
	
	
	
	
	
	
	
	
	
	
  
	
	
	
	
	
	
	
	
	
	<transmission name="LARM_JOINT0_trans" type="pr2_mechanism_model/SimpleTransmission">
		
		
		
		
		
		
		
		
		
		
    
		
		
		
		
		
		
		
		
		
		<actuator name="LARM_JOINT0_motor"/>
		
		
		
		
		
		
		
		
		
		
    
		
		
		
		
		
		
		
		
		
		<joint name="LARM_JOINT0"/>
		
		
		
		
		
		
		
		
		
		
    
		
		
		
		
		
		
		
		
		
		<mechanicalReduction>1</mechanicalReduction>
		
		
		
		
		
		
		
		
		
		
  
	
	
	
	
	
	
	
	
	
	</transmission>
	
	
	
	
	
	
	
	
	
	
  
	
	
	
	
	
	
	
	
	
	<gazebo reference="LARM_JOINT0">
		
		
		
		
		
		
		
		
		
		
    
		
		
		
		
		
		
		
		
		
		<cfmDamping>0.4</cfmDamping>
		
		
		
		
		
		
		
		
		
		
  
	
	
	
	
	
	
	
	
	
	</gazebo>
	
	
	
	
	
	
	
	
	
	
  
	
	
	
	
	
	
	
	
	
	<joint name="LARM_JOINT1" type="revolute">
		
		
		
		
		
		
		
		
		
		
    
		
		
		
		
		
		
		
		
		
		<parent link="LARM_LINK0"/>
		
		
		
		
		
		
		
		
		
		
    
		
		
		
		
		
		
		
		
		
		<child link="LARM_LINK1"/>
		
		
		
		
		
		
		
		
		
		
    
		
		
		
		
		
		
		
		
		
		<origin rpy="0 -0 0 " xyz="0 0 0"/>
		
		
		
		
		
		
		
		
		
		
    
		
		
		
		
		
		
		
		
		
		<axis xyz="1 0 0"/>
		
		
		
		
		
		
		
		
		
		
    
		
		
		
		
		
		
		
		
		
		<limit effort="100.4" lower="-0.174533" upper="1.65806" velocity="2.4192"/>
		
		
		
		
		
		
		
		
		
		
    
		
		
		
		
		
		
		
		
		
		<dynamics damping="0.2" friction="0"/>
		
		
		
		
		
		
		
		
		
		
  
	
	
	
	
	
	
	
	
	
	</joint>
	
	
	
	
	
	
	
	
	
	
  
	
	
	
	
	
	
	
	
	
	<transmission name="LARM_JOINT1_trans" type="pr2_mechanism_model/SimpleTransmission">
		
		
		
		
		
		
		
		
		
		
    
		
		
		
		
		
		
		
		
		
		<actuator name="LARM_JOINT1_motor"/>
		
		
		
		
		
		
		
		
		
		
    
		
		
		
		
		
		
		
		
		
		<joint name="LARM_JOINT1"/>
		
		
		
		
		
		
		
		
		
		
    
		
		
		
		
		
		
		
		
		
		<mechanicalReduction>1</mechanicalReduction>
		
		
		
		
		
		
		
		
		
		
  
	
	
	
	
	
	
	
	
	
	</transmission>
	
	
	
	
	
	
	
	
	
	
  
	
	
	
	
	
	
	
	
	
	<gazebo reference="LARM_JOINT1">
		
		
		
		
		
		
		
		
		
		
    
		
		
		
		
		
		
		
		
		
		<cfmDamping>0.4</cfmDamping>
		
		
		
		
		
		
		
		
		
		
  
	
	
	
	
	
	
	
	
	
	</gazebo>
	
	
	
	
	
	
	
	
	
	
  
	
	
	
	
	
	
	
	
	
	<joint name="LARM_JOINT2" type="revolute">
		
		
		
		
		
		
		
		
		
		
    
		
		
		
		
		
		
		
		
		
		<parent link="LARM_LINK1"/>
		
		
		
		
		
		
		
		
		
		
    
		
		
		
		
		
		
		
		
		
		<child link="LARM_LINK2"/>
		
		
		
		
		
		
		
		
		
		
    
		
		
		
		
		
		
		
		
		
		<origin rpy="0 -0 0 " xyz="0 0 0"/>
		
		
		
		
		
		
		
		
		
		
    
		
		
		
		
		
		
		
		
		
		<axis xyz="0 0 1"/>
		
		
		
		
		
		
		
		
		
		
    
		
		
		
		
		
		
		
		
		
		<limit effort="48.7" lower="-1.6057" upper="1.6057" velocity="4.15699"/>
		
		
		
		
		
		
		
		
		
		
    
		
		
		
		
		
		
		
		
		
		<dynamics damping="0.2" friction="0"/>
		
		
		
		
		
		
		
		
		
		
  
	
	
	
	
	
	
	
	
	
	</joint>
	
	
	
	
	
	
	
	
	
	
  
	
	
	
	
	
	
	
	
	
	<transmission name="LARM_JOINT2_trans" type="pr2_mechanism_model/SimpleTransmission">
		
		
		
		
		
		
		
		
		
		
    
		
		
		
		
		
		
		
		
		
		<actuator name="LARM_JOINT2_motor"/>
		
		
		
		
		
		
		
		
		
		
    
		
		
		
		
		
		
		
		
		
		<joint name="LARM_JOINT2"/>
		
		
		
		
		
		
		
		
		
		
    
		
		
		
		
		
		
		
		
		
		<mechanicalReduction>1</mechanicalReduction>
		
		
		
		
		
		
		
		
		
		
  
	
	
	
	
	
	
	
	
	
	</transmission>
	
	
	
	
	
	
	
	
	
	
  
	
	
	
	
	
	
	
	
	
	<gazebo reference="LARM_JOINT2">
		
		
		
		
		
		
		
		
		
		
    
		
		
		
		
		
		
		
		
		
		<cfmDamping>0.4</cfmDamping>
		
		
		
		
		
		
		
		
		
		
  
	
	
	
	
	
	
	
	
	
	</gazebo>
	
	
	
	
	
	
	
	
	
	
  
	
	
	
	
	
	
	
	
	
	<joint name="LARM_JOINT3" type="revolute">
		
		
		
		
		
		
		
		
		
		
    
		
		
		
		
		
		
		
		
		
		<parent link="LARM_LINK2"/>
		
		
		
		
		
		
		
		
		
		
    
		
		
		
		
		
		
		
		
		
		<child link="LARM_LINK3"/>
		
		
		
		
		
		
		
		
		
		
    
		
		
		
		
		
		
		
		
		
		<origin rpy="0 -0 0 " xyz="0 0 -0.25"/>
		
		
		
		
		
		
		
		
		
		
    
		
		
		
		
		
		
		
		
		
		<axis xyz="0 1 0"/>
		
		
		
		
		
		
		
		
		
		
    
		
		
		
		
		
		
		
		
		
		<limit effort="108.5" lower="-2.3911" upper="0.0349066" velocity="2.23776"/>
		
		
		
		
		
		
		
		
		
		
    
		
		
		
		
		
		
		
		
		
		<dynamics damping="0.2" friction="0"/>
		
		
		
		
		
		
		
		
		
		
  
	
	
	
	
	
	
	
	
	
	</joint>
	
	
	
	
	
	
	
	
	
	
  
	
	
	
	
	
	
	
	
	
	<transmission name="LARM_JOINT3_trans" type="pr2_mechanism_model/SimpleTransmission">
		
		
		
		
		
		
		
		
		
		
    
		
		
		
		
		
		
		
		
		
		<actuator name="LARM_JOINT3_motor"/>
		
		
		
		
		
		
		
		
		
		
    
		
		
		
		
		
		
		
		
		
		<joint name="LARM_JOINT3"/>
		
		
		
		
		
		
		
		
		
		
    
		
		
		
		
		
		
		
		
		
		<mechanicalReduction>1</mechanicalReduction>
		
		
		
		
		
		
		
		
		
		
  
	
	
	
	
	
	
	
	
	
	</transmission>
	
	
	
	
	
	
	
	
	
	
  
	
	
	
	
	
	
	
	
	
	<gazebo reference="LARM_JOINT3">
		
		
		
		
		
		
		
		
		
		
    
		
		
		
		
		
		
		
		
		
		<cfmDamping>0.4</cfmDamping>
		
		
		
		
		
		
		
		
		
		
  
	
	
	
	
	
	
	
	
	
	</gazebo>
	
	
	
	
	
	
	
	
	
	
  
	
	
	
	
	
	
	
	
	
	<joint name="LARM_JOINT4" type="revolute">
		
		
		
		
		
		
		
		
		
		
    
		
		
		
		
		
		
		
		
		
		<parent link="LARM_LINK3"/>
		
		
		
		
		
		
		
		
		
		
    
		
		
		
		
		
		
		
		
		
		<child link="LARM_LINK4"/>
		
		
		
		
		
		
		
		
		
		
    
		
		
		
		
		
		
		
		
		
		<origin rpy="0 -0 0 " xyz="0 0 -0.25"/>
		
		
		
		
		
		
		
		
		
		
    
		
		
		
		
		
		
		
		
		
		<axis xyz="0 0 1"/>
		
		
		
		
		
		
		
		
		
		
    
		
		
		
		
		
		
		
		
		
		<limit effort="13.9" lower="-1.85005" upper="1.85005" velocity="4.72794"/>
		
		
		
		
		
		
		
		
		
		
    
		
		
		
		
		
		
		
		
		
		<dynamics damping="0.2" friction="0"/>
		
		
		
		
		
		
		
		
		
		
  
	
	
	
	
	
	
	
	
	
	</joint>
	
	
	
	
	
	
	
	
	
	
  
	
	
	
	
	
	
	
	
	
	<transmission name="LARM_JOINT4_trans" type="pr2_mechanism_model/SimpleTransmission">
		
		
		
		
		
		
		
		
		
		
    
		
		
		
		
		
		
		
		
		
		<actuator name="LARM_JOINT4_motor"/>
		
		
		
		
		
		
		
		
		
		
    
		
		
		
		
		
		
		
		
		
		<joint name="LARM_JOINT4"/>
		
		
		
		
		
		
		
		
		
		
    
		
		
		
		
		
		
		
		
		
		<mechanicalReduction>1</mechanicalReduction>
		
		
		
		
		
		
		
		
		
		
  
	
	
	
	
	
	
	
	
	
	</transmission>
	
	
	
	
	
	
	
	
	
	
  
	
	
	
	
	
	
	
	
	
	<gazebo reference="LARM_JOINT4">
		
		
		
		
		
		
		
		
		
		
    
		
		
		
		
		
		
		
		
		
		<cfmDamping>0.4</cfmDamping>
		
		
		
		
		
		
		
		
		
		
  
	
	
	
	
	
	
	
	
	
	</gazebo>
	
	
	
	
	
	
	
	
	
	
  
	
	
	
	
	
	
	
	
	
	<joint name="LARM_JOINT5" type="revolute">
		
		
		
		
		
		
		
		
		
		
    
		
		
		
		
		
		
		
		
		
		<parent link="LARM_LINK4"/>
		
		
		
		
		
		
		
		
		
		
    
		
		
		
		
		
		
		
		
		
		<child link="LARM_LINK5"/>
		
		
		
		
		
		
		
		
		
		
    
		
		
		
		
		
		
		
		
		
		<origin rpy="0 -0 0 " xyz="0 0 0"/>
		
		
		
		
		
		
		
		
		
		
    
		
		
		
		
		
		
		
		
		
		<axis xyz="1 0 0"/>
		
		
		
		
		
		
		
		
		
		
    
		
		
		
		
		
		
		
		
		
		<limit effort="18.74" lower="-1.6057" upper="1.6057" velocity="6.63609"/>
		
		
		
		
		
		
		
		
		
		
    
		
		
		
		
		
		
		
		
		
		<dynamics damping="0.2" friction="0"/>
		
		
		
		
		
		
		
		
		
		
  
	
	
	
	
	
	
	
	
	
	</joint>
	
	
	
	
	
	
	
	
	
	
  
	
	
	
	
	
	
	
	
	
	<transmission name="LARM_JOINT5_trans" type="pr2_mechanism_model/SimpleTransmission">
		
		
		
		
		
		
		
		
		
		
    
		
		
		
		
		
		
		
		
		
		<actuator name="LARM_JOINT5_motor"/>
		
		
		
		
		
		
		
		
		
		
    
		
		
		
		
		
		
		
		
		
		<joint name="LARM_JOINT5"/>
		
		
		
		
		
		
		
		
		
		
    
		
		
		
		
		
		
		
		
		
		<mechanicalReduction>1</mechanicalReduction>
		
		
		
		
		
		
		
		
		
		
  
	
	
	
	
	
	
	
	
	
	</transmission>
	
	
	
	
	
	
	
	
	
	
  
	
	
	
	
	
	
	
	
	
	<gazebo reference="LARM_JOINT5">
		
		
		
		
		
		
		
		
		
		
    
		
		
		
		
		
		
		
		
		
		<cfmDamping>0.4</cfmDamping>
		
		
		
		
		
		
		
		
		
		
  
	
	
	
	
	
	
	
	
	
	</gazebo>
	
	
	
	
	
	
	
	
	
	
  
	
	
	
	
	
	
	
	
	
	<joint name="LARM_JOINT6" type="revolute">
		
		
		
		
		
		
		
		
		
		
    
		
		
		
		
		
		
		
		
		
		<parent link="LARM_LINK5"/>
		
		
		
		
		
		
		
		
		
		
    
		
		
		
		
		
		
		
		
		
		<child link="LARM_LINK6"/>
		
		
		
		
		
		
		
		
		
		
    
		
		
		
		
		
		
		
		
		
		<origin rpy="0 -0 0 " xyz="0 0 0"/>
		
		
		
		
		
		
		
		
		
		
    
		
		
		
		
		
		
		
		
		
		<axis xyz="0 1 0"/>
		
		
		
		
		
		
		
		
		
		
    
		
		
		
		
		
		
		
		
		
		<limit effort="16.02" lower="-1.6057" upper="1.6057" velocity="2.77088"/>
		
		
		
		
		
		
		
		
		
		
    
		
		
		
		
		
		
		
		
		
		<dynamics damping="0.2" friction="0"/>
		
		
		
		
		
		
		
		
		
		
  
	
	
	
	
	
	
	
	
	
	</joint>
	
	
	
	
	
	
	
	
	
	
  
	
	
	
	
	
	
	
	
	
	<transmission name="LARM_JOINT6_trans" type="pr2_mechanism_model/SimpleTransmission">
		
		
		
		
		
		
		
		
		
		
    
		
		
		
		
		
		
		
		
		
		<actuator name="LARM_JOINT6_motor"/>
		
		
		
		
		
		
		
		
		
		
    
		
		
		
		
		
		
		
		
		
		<joint name="LARM_JOINT6"/>
		
		
		
		
		
		
		
		
		
		
    
		
		
		
		
		
		
		
		
		
		<mechanicalReduction>1</mechanicalReduction>
		
		
		
		
		
		
		
		
		
		
  
	
	
	
	
	
	
	
	
	
	</transmission>
	
	
	
	
	
	
	
	
	
	
  
	
	
	
	
	
	
	
	
	
	<gazebo reference="LARM_JOINT6">
		
		
		
		
		
		
		
		
		
		
    
		
		
		
		
		
		
		
		
		
		<cfmDamping>0.4</cfmDamping>
		
		
		
		
		
		
		
		
		
		
  
	
	
	
	
	
	
	
	
	
	</gazebo>
	
	
	
	
	
	
	
	
	
	
  
	
	
	
	
	
	
	
	
	
	<joint name="LARM_JOINT7" type="revolute">
		
		
		
		
		
		
		
		
		
		
    
		
		
		
		
		
		
		
		
		
		<parent link="LARM_LINK6"/>
		
		
		
		
		
		
		
		
		
		
    
		
		
		
		
		
		
		
		
		
		<child link="LARM_LINK7"/>
		
		
		
		
		
		
		
		
		
		
    
		
		
		
		
		
		
		
		
		
		<origin rpy="0 -0 0 " xyz="0 -0.0169 -0.114"/>
		
		
		
		
		
		
		
		
		
		
    
		
		
		
		
		
		
		
		
		
		<axis xyz="1 0 0"/>
		
		
		
		
		
		
		
		
		
		
    
		
		
		
		
		
		
		
		
		
		<limit effort="13.9" lower="-2.0944" upper="0.279253" velocity="4.72794"/>
		
		
		
		
		
		
		
		
		
		
    
		
		
		
		
		
		
		
		
		
		<dynamics damping="0.2" friction="0"/>
		
		
		
		
		
		
		
		
		
		
  
	
	
	
	
	
	
	
	
	
	</joint>
	
	
	
	
	
	
	
	
	
	
  
	
	
	
	
	
	
	
	
	
	<transmission name="LARM_JOINT7_trans" type="pr2_mechanism_model/SimpleTransmission">
		
		
		
		
		
		
		
		
		
		
    
		
		
		
		
		
		
		
		
		
		<actuator name="LARM_JOINT7_motor"/>
		
		
		
		
		
		
		
		
		
		
    
		
		
		
		
		
		
		
		
		
		<joint name="LARM_JOINT7"/>
		
		
		
		
		
		
		
		
		
		
    
		
		
		
		
		
		
		
		
		
		<mechanicalReduction>1</mechanicalReduction>
		
		
		
		
		
		
		
		
		
		
  
	
	
	
	
	
	
	
	
	
	</transmission>
	
	
	
	
	
	
	
	
	
	
  
	
	
	
	
	
	
	
	
	
	<gazebo reference="LARM_JOINT7">
		
		
		
		
		
		
		
		
		
		
    
		
		
		
		
		
		
		
		
		
		<cfmDamping>0.4</cfmDamping>
		
		
		
		
		
		
		
		
		
		
  
	
	
	
	
	
	
	
	
	
	</gazebo>
	
	
	
	
	
	
	
	
	
	
  
	
	
	
	
	
	
	
	
	
	<joint name="RARM_JOINT0" type="revolute">
		
		
		
		
		
		
		
		
		
		
    
		
		
		
		
		
		
		
		
		
		<parent link="CHEST_LINK1"/>
		
		
		
		
		
		
		
		
		
		
    
		
		
		
		
		
		
		
		
		
		<child link="RARM_LINK0"/>
		
		
		
		
		
		
		
		
		
		
    
		
		
		
		
		
		
		
		
		
		<origin rpy="0 -0 0 " xyz="0.008 -0.25 0.181"/>
		
		
		
		
		
		
		
		
		
		
    
		
		
		
		
		
		
		
		
		
		<axis xyz="0 1 0"/>
		
		
		
		
		
		
		
		
		
		
    
		
		
		
		
		
		
		
		
		
		<limit effort="160.3" lower="-3.14159" upper="1.0472" velocity="4.17044"/>
		
		
		
		
		
		
		
		
		
		
    
		
		
		
		
		
		
		
		
		
		<dynamics damping="0.2" friction="0"/>
		
		
		
		
		
		
		
		
		
		
  
	
	
	
	
	
	
	
	
	
	</joint>
	
	
	
	
	
	
	
	
	
	
  
	
	
	
	
	
	
	
	
	
	<transmission name="RARM_JOINT0_trans" type="pr2_mechanism_model/SimpleTransmission">
		
		
		
		
		
		
		
		
		
		
    
		
		
		
		
		
		
		
		
		
		<actuator name="RARM_JOINT0_motor"/>
		
		
		
		
		
		
		
		
		
		
    
		
		
		
		
		
		
		
		
		
		<joint name="RARM_JOINT0"/>
		
		
		
		
		
		
		
		
		
		
    
		
		
		
		
		
		
		
		
		
		<mechanicalReduction>1</mechanicalReduction>
		
		
		
		
		
		
		
		
		
		
  
	
	
	
	
	
	
	
	
	
	</transmission>
	
	
	
	
	
	
	
	
	
	
  
	
	
	
	
	
	
	
	
	
	<gazebo reference="RARM_JOINT0">
		
		
		
		
		
		
		
		
		
		
    
		
		
		
		
		
		
		
		
		
		<cfmDamping>0.4</cfmDamping>
		
		
		
		
		
		
		
		
		
		
  
	
	
	
	
	
	
	
	
	
	</gazebo>
	
	
	
	
	
	
	
	
	
	
  
	
	
	
	
	
	
	
	
	
	<joint name="RARM_JOINT1" type="revolute">
		
		
		
		
		
		
		
		
		
		
    
		
		
		
		
		
		
		
		
		
		<parent link="RARM_LINK0"/>
		
		
		
		
		
		
		
		
		
		
    
		
		
		
		
		
		
		
		
		
		<child link="RARM_LINK1"/>
		
		
		
		
		
		
		
		
		
		
    
		
		
		
		
		
		
		
		
		
		<origin rpy="0 -0 0 " xyz="0 0 0"/>
		
		
		
		
		
		
		
		
		
		
    
		
		
		
		
		
		
		
		
		
		<axis xyz="1 0 0"/>
		
		
		
		
		
		
		
		
		
		
    
		
		
		
		
		
		
		
		
		
		<limit effort="100.4" lower="-1.65806" upper="0.174533" velocity="2.4192"/>
		
		
		
		
		
		
		
		
		
		
    
		
		
		
		
		
		
		
		
		
		<dynamics damping="0.2" friction="0"/>
		
		
		
		
		
		
		
		
		
		
  
	
	
	
	
	
	
	
	
	
	</joint>
	
	
	
	
	
	
	
	
	
	
  
	
	
	
	
	
	
	
	
	
	<transmission name="RARM_JOINT1_trans" type="pr2_mechanism_model/SimpleTransmission">
		
		
		
		
		
		
		
		
		
		
    
		
		
		
		
		
		
		
		
		
		<actuator name="RARM_JOINT1_motor"/>
		
		
		
		
		
		
		
		
		
		
    
		
		
		
		
		
		
		
		
		
		<joint name="RARM_JOINT1"/>
		
		
		
		
		
		
		
		
		
		
    
		
		
		
		
		
		
		
		
		
		<mechanicalReduction>1</mechanicalReduction>
		
		
		
		
		
		
		
		
		
		
  
	
	
	
	
	
	
	
	
	
	</transmission>
	
	
	
	
	
	
	
	
	
	
  
	
	
	
	
	
	
	
	
	
	<gazebo reference="RARM_JOINT1">
		
		
		
		
		
		
		
		
		
		
    
		
		
		
		
		
		
		
		
		
		<cfmDamping>0.4</cfmDamping>
		
		
		
		
		
		
		
		
		
		
  
	
	
	
	
	
	
	
	
	
	</gazebo>
	
	
	
	
	
	
	
	
	
	
  
	
	
	
	
	
	
	
	
	
	<joint name="RARM_JOINT2" type="revolute">
		
		
		
		
		
		
		
		
		
		
    
		
		
		
		
		
		
		
		
		
		<parent link="RARM_LINK1"/>
		
		
		
		
		
		
		
		
		
		
    
		
		
		
		
		
		
		
		
		
		<child link="RARM_LINK2"/>
		
		
		
		
		
		
		
		
		
		
    
		
		
		
		
		
		
		
		
		
		<origin rpy="0 -0 0 " xyz="0 0 0"/>
		
		
		
		
		
		
		
		
		
		
    
		
		
		
		
		
		
		
		
		
		<axis xyz="0 0 1"/>
		
		
		
		
		
		
		
		
		
		
    
		
		
		
		
		
		
		
		
		
		<limit effort="48.7" lower="-1.6057" upper="1.6057" velocity="4.15699"/>
		
		
		
		
		
		
		
		
		
		
    
		
		
		
		
		
		
		
		
		
		<dynamics damping="0.2" friction="0"/>
		
		
		
		
		
		
		
		
		
		
  
	
	
	
	
	
	
	
	
	
	</joint>
	
	
	
	
	
	
	
	
	
	
  
	
	
	
	
	
	
	
	
	
	<transmission name="RARM_JOINT2_trans" type="pr2_mechanism_model/SimpleTransmission">
		
		
		
		
		
		
		
		
		
		
    
		
		
		
		
		
		
		
		
		
		<actuator name="RARM_JOINT2_motor"/>
		
		
		
		
		
		
		
		
		
		
    
		
		
		
		
		
		
		
		
		
		<joint name="RARM_JOINT2"/>
		
		
		
		
		
		
		
		
		
		
    
		
		
		
		
		
		
		
		
		
		<mechanicalReduction>1</mechanicalReduction>
		
		
		
		
		
		
		
		
		
		
  
	
	
	
	
	
	
	
	
	
	</transmission>
	
	
	
	
	
	
	
	
	
	
  
	
	
	
	
	
	
	
	
	
	<gazebo reference="RARM_JOINT2">
		
		
		
		
		
		
		
		
		
		
    
		
		
		
		
		
		
		
		
		
		<cfmDamping>0.4</cfmDamping>
		
		
		
		
		
		
		
		
		
		
  
	
	
	
	
	
	
	
	
	
	</gazebo>
	
	
	
	
	
	
	
	
	
	
  
	
	
	
	
	
	
	
	
	
	<joint name="RARM_JOINT3" type="revolute">
		
		
		
		
		
		
		
		
		
		
    
		
		
		
		
		
		
		
		
		
		<parent link="RARM_LINK2"/>
		
		
		
		
		
		
		
		
		
		
    
		
		
		
		
		
		
		
		
		
		<child link="RARM_LINK3"/>
		
		
		
		
		
		
		
		
		
		
    
		
		
		
		
		
		
		
		
		
		<origin rpy="0 -0 0 " xyz="0 0 -0.25"/>
		
		
		
		
		
		
		
		
		
		
    
		
		
		
		
		
		
		
		
		
		<axis xyz="0 1 0"/>
		
		
		
		
		
		
		
		
		
		
    
		
		
		
		
		
		
		
		
		
		<limit effort="108.5" lower="-2.3911" upper="0.0349066" velocity="2.23776"/>
		
		
		
		
		
		
		
		
		
		
    
		
		
		
		
		
		
		
		
		
		<dynamics damping="0.2" friction="0"/>
		
		
		
		
		
		
		
		
		
		
  
	
	
	
	
	
	
	
	
	
	</joint>
	
	
	
	
	
	
	
	
	
	
  
	
	
	
	
	
	
	
	
	
	<transmission name="RARM_JOINT3_trans" type="pr2_mechanism_model/SimpleTransmission">
		
		
		
		
		
		
		
		
		
		
    
		
		
		
		
		
		
		
		
		
		<actuator name="RARM_JOINT3_motor"/>
		
		
		
		
		
		
		
		
		
		
    
		
		
		
		
		
		
		
		
		
		<joint name="RARM_JOINT3"/>
		
		
		
		
		
		
		
		
		
		
    
		
		
		
		
		
		
		
		
		
		<mechanicalReduction>1</mechanicalReduction>
		
		
		
		
		
		
		
		
		
		
  
	
	
	
	
	
	
	
	
	
	</transmission>
	
	
	
	
	
	
	
	
	
	
  
	
	
	
	
	
	
	
	
	
	<gazebo reference="RARM_JOINT3">
		
		
		
		
		
		
		
		
		
		
    
		
		
		
		
		
		
		
		
		
		<cfmDamping>0.4</cfmDamping>
		
		
		
		
		
		
		
		
		
		
  
	
	
	
	
	
	
	
	
	
	</gazebo>
	
	
	
	
	
	
	
	
	
	
  
	
	
	
	
	
	
	
	
	
	<joint name="RARM_JOINT4" type="revolute">
		
		
		
		
		
		
		
		
		
		
    
		
		
		
		
		
		
		
		
		
		<parent link="RARM_LINK3"/>
		
		
		
		
		
		
		
		
		
		
    
		
		
		
		
		
		
		
		
		
		<child link="RARM_LINK4"/>
		
		
		
		
		
		
		
		
		
		
    
		
		
		
		
		
		
		
		
		
		<origin rpy="0 -0 0 " xyz="0 0 -0.25"/>
		
		
		
		
		
		
		
		
		
		
    
		
		
		
		
		
		
		
		
		
		<axis xyz="0 0 1"/>
		
		
		
		
		
		
		
		
		
		
    
		
		
		
		
		
		
		
		
		
		<limit effort="13.9" lower="-1.85005" upper="1.85005" velocity="4.72794"/>
		
		
		
		
		
		
		
		
		
		
    
		
		
		
		
		
		
		
		
		
		<dynamics damping="0.2" friction="0"/>
		
		
		
		
		
		
		
		
		
		
  
	
	
	
	
	
	
	
	
	
	</joint>
	
	
	
	
	
	
	
	
	
	
  
	
	
	
	
	
	
	
	
	
	<transmission name="RARM_JOINT4_trans" type="pr2_mechanism_model/SimpleTransmission">
		
		
		
		
		
		
		
		
		
		
    
		
		
		
		
		
		
		
		
		
		<actuator name="RARM_JOINT4_motor"/>
		
		
		
		
		
		
		
		
		
		
    
		
		
		
		
		
		
		
		
		
		<joint name="RARM_JOINT4"/>
		
		
		
		
		
		
		
		
		
		
    
		
		
		
		
		
		
		
		
		
		<mechanicalReduction>1</mechanicalReduction>
		
		
		
		
		
		
		
		
		
		
  
	
	
	
	
	
	
	
	
	
	</transmission>
	
	
	
	
	
	
	
	
	
	
  
	
	
	
	
	
	
	
	
	
	<gazebo reference="RARM_JOINT4">
		
		
		
		
		
		
		
		
		
		
    
		
		
		
		
		
		
		
		
		
		<cfmDamping>0.4</cfmDamping>
		
		
		
		
		
		
		
		
		
		
  
	
	
	
	
	
	
	
	
	
	</gazebo>
	
	
	
	
	
	
	
	
	
	
  
	
	
	
	
	
	
	
	
	
	<joint name="RARM_JOINT5" type="revolute">
		
		
		
		
		
		
		
		
		
		
    
		
		
		
		
		
		
		
		
		
		<parent link="RARM_LINK4"/>
		
		
		
		
		
		
		
		
		
		
    
		
		
		
		
		
		
		
		
		
		<child link="RARM_LINK5"/>
		
		
		
		
		
		
		
		
		
		
    
		
		
		
		
		
		
		
		
		
		<origin rpy="0 -0 0 " xyz="0 0 0"/>
		
		
		
		
		
		
		
		
		
		
    
		
		
		
		
		
		
		
		
		
		<axis xyz="1 0 0"/>
		
		
		
		
		
		
		
		
		
		
    
		
		
		
		
		
		
		
		
		
		<limit effort="18.74" lower="-1.6057" upper="1.6057" velocity="6.63609"/>
		
		
		
		
		
		
		
		
		
		
    
		
		
		
		
		
		
		
		
		
		<dynamics damping="0.2" friction="0"/>
		
		
		
		
		
		
		
		
		
		
  
	
	
	
	
	
	
	
	
	
	</joint>
	
	
	
	
	
	
	
	
	
	
  
	
	
	
	
	
	
	
	
	
	<transmission name="RARM_JOINT5_trans" type="pr2_mechanism_model/SimpleTransmission">
		
		
		
		
		
		
		
		
		
		
    
		
		
		
		
		
		
		
		
		
		<actuator name="RARM_JOINT5_motor"/>
		
		
		
		
		
		
		
		
		
		
    
		
		
		
		
		
		
		
		
		
		<joint name="RARM_JOINT5"/>
		
		
		
		
		
		
		
		
		
		
    
		
		
		
		
		
		
		
		
		
		<mechanicalReduction>1</mechanicalReduction>
		
		
		
		
		
		
		
		
		
		
  
	
	
	
	
	
	
	
	
	
	</transmission>
	
	
	
	
	
	
	
	
	
	
  
	
	
	
	
	
	
	
	
	
	<gazebo reference="RARM_JOINT5">
		
		
		
		
		
		
		
		
		
		
    
		
		
		
		
		
		
		
		
		
		<cfmDamping>0.4</cfmDamping>
		
		
		
		
		
		
		
		
		
		
  
	
	
	
	
	
	
	
	
	
	</gazebo>
	
	
	
	
	
	
	
	
	
	
  
	
	
	
	
	
	
	
	
	
	<joint name="RARM_JOINT6" type="revolute">
		
		
		
		
		
		
		
		
		
		
    
		
		
		
		
		
		
		
		
		
		<parent link="RARM_LINK5"/>
		
		
		
		
		
		
		
		
		
		
    
		
		
		
		
		
		
		
		
		
		<child link="RARM_LINK6"/>
		
		
		
		
		
		
		
		
		
		
    
		
		
		
		
		
		
		
		
		
		<origin rpy="0 -0 0 " xyz="0 0 0"/>
		
		
		
		
		
		
		
		
		
		
    
		
		
		
		
		
		
		
		
		
		<axis xyz="0 1 0"/>
		
		
		
		
		
		
		
		
		
		
    
		
		
		
		
		
		
		
		
		
		<limit effort="16.02" lower="-1.6057" upper="1.6057" velocity="2.77088"/>
		
		
		
		
		
		
		
		
		
		
    
		
		
		
		
		
		
		
		
		
		<dynamics damping="0.2" friction="0"/>
		
		
		
		
		
		
		
		
		
		
  
	
	
	
	
	
	
	
	
	
	</joint>
	
	
	
	
	
	
	
	
	
	
  
	
	
	
	
	
	
	
	
	
	<transmission name="RARM_JOINT6_trans" type="pr2_mechanism_model/SimpleTransmission">
		
		
		
		
		
		
		
		
		
		
    
		
		
		
		
		
		
		
		
		
		<actuator name="RARM_JOINT6_motor"/>
		
		
		
		
		
		
		
		
		
		
    
		
		
		
		
		
		
		
		
		
		<joint name="RARM_JOINT6"/>
		
		
		
		
		
		
		
		
		
		
    
		
		
		
		
		
		
		
		
		
		<mechanicalReduction>1</mechanicalReduction>
		
		
		
		
		
		
		
		
		
		
  
	
	
	
	
	
	
	
	
	
	</transmission>
	
	
	
	
	
	
	
	
	
	
  
	
	
	
	
	
	
	
	
	
	<gazebo reference="RARM_JOINT6">
		
		
		
		
		
		
		
		
		
		
    
		
		
		
		
		
		
		
		
		
		<cfmDamping>0.4</cfmDamping>
		
		
		
		
		
		
		
		
		
		
  
	
	
	
	
	
	
	
	
	
	</gazebo>
	
	
	
	
	
	
	
	
	
	
  
	
	
	
	
	
	
	
	
	
	<joint name="RARM_JOINT7" type="revolute">
		
		
		
		
		
		
		
		
		
		
    
		
		
		
		
		
		
		
		
		
		<parent link="RARM_LINK6"/>
		
		
		
		
		
		
		
		
		
		
    
		
		
		
		
		
		
		
		
		
		<child link="RARM_LINK7"/>
		
		
		
		
		
		
		
		
		
		
    
		
		
		
		
		
		
		
		
		
		<origin rpy="0 -0 0 " xyz="0 0.0169 -0.114"/>
		
		
		
		
		
		
		
		
		
		
    
		
		
		
		
		
		
		
		
		
		<axis xyz="1 0 0"/>
		
		
		
		
		
		
		
		
		
		
    
		
		
		
		
		
		
		
		
		
		<limit effort="13.9" lower="-0.279253" upper="2.0944" velocity="4.72794"/>
		
		
		
		
		
		
		
		
		
		
    
		
		
		
		
		
		
		
		
		
		<dynamics damping="0.2" friction="0"/>
		
		
		
		
		
		
		
		
		
		
  
	
	
	
	
	
	
	
	
	
	</joint>
	
	
	
	
	
	
	
	
	
	
  
	
	
	
	
	
	
	
	
	
	<transmission name="RARM_JOINT7_trans" type="pr2_mechanism_model/SimpleTransmission">
		
		
		
		
		
		
		
		
		
		
    
		
		
		
		
		
		
		
		
		
		<actuator name="RARM_JOINT7_motor"/>
		
		
		
		
		
		
		
		
		
		
    
		
		
		
		
		
		
		
		
		
		<joint name="RARM_JOINT7"/>
		
		
		
		
		
		
		
		
		
		
    
		
		
		
		
		
		
		
		
		
		<mechanicalReduction>1</mechanicalReduction>
		
		
		
		
		
		
		
		
		
		
  
	
	
	
	
	
	
	
	
	
	</transmission>
	
	
	
	
	
	
	
	
	
	
  
	
	
	
	
	
	
	
	
	
	<gazebo reference="RARM_JOINT7">
		
		
		
		
		
		
		
		
		
		
    
		
		
		
		
		
		
		
		
		
		<cfmDamping>0.4</cfmDamping>
		
		
		
		
		
		
		
		
		
		
  
	
	
	
	
	
	
	
	
	
	</gazebo>
	
	
	
	
	
	
	
	
	
	

	
	
	
	
	
	
	
	
	
	<joint name="lhsensor_joint" type="fixed">
		
		
		
		
		
		
		
		
		
		
		
		
		
		
		
		
		
		
		<origin rpy="0 0 0" xyz="0 0 -0.077"/>
		
		
		
		
		
		
		
		
		
		
		
		
		
		
		
		
		
		
		<parent link="LARM_LINK6"/>
		
		
		
		
		
		
		
		
		
		
		
		
		
		
		
		
		
		
		<child link="lhsensor"/>
		
		
		
		
		
		
		
		
		
	
	
	
	
	
	
	
	
	
	</joint>
	
	
	
	
	
	
	
	
	
	
	
	
	
	
	
	
	
	
	<link name="lhsensor"/>
	
	
	
	
	
	
	
	
	

	
	
	
	
	
	
	
	
	<joint name="rhsensor_joint" type="fixed">
		
		
		
		
		
		
		
		
		
		
		
		
		
		
		
		
		<origin rpy="0 0 0" xyz="0 0 -0.077"/>
		
		
		
		
		
		
		
		
		
		
		
		
		
		
		
		
		<parent link="RARM_LINK6"/>
		
		
		
		
		
		
		
		
		
		
		
		
		
		
		
		
		<child link="rhsensor"/>
		
		
		
		
		
		
		
		
	
	
	
	
	
	
	
	
	</joint>
	
	
	
	
	
	
	
	
	
	
	
	
	
	
	
	
	<link name="rhsensor"/>
	
	
	
	
	
	
	
	

	
	
	
	
	
	
	
	<joint name="CARMINE_joint" type="fixed">
		
		
		
		
		
		
		
		
		
		
		
		
		
		
		<origin rpy="-1.787 0.038 -1.576" xyz="0.093 0.017 0.131"/>
		
		
		
		
		
		
		
		
		
		
		
		
		
		
		<parent link="HEAD_LINK1"/>
		
		
		
		
		
		
		
		
		
		
		
		
		
		
		<child link="CARMINE"/>
		
		
		
		
		
		
		
	
	
	
	
	
	
	
	</joint>
	
	
	
	
	
	
	
	
	
	
	
	
	
	
	<link name="CARMINE"/>
	
	
	
	
	
	
	

	
	
	
	
	
	
	<joint name="camera_link_joint" type="fixed">
		
		
		
		
		
		
		
		
		
		
		
		
		<origin rpy="1.571 -1.571 0.0" xyz="-0.045 0.0 0.0"/>
		
		
		
		
		
		
		
		
		
		
		
		
		<parent link="CARMINE"/>
		
		
		
		
		
		
		
		
		
		
		
		
		<child link="camera_link"/>
		
		
		
		
		
		
	
	
	
	
	
	
	</joint>
	
	
	
	
	
	
	
	
	
	
	
	
	<link name="camera_link"/>
	
	
	
	
	
	

	
	
	
	
	
	<joint name="camera_rgb_frame_joint" type="fixed">
		
		
		
		
		
		
		
		
		
		
		<origin rpy="0 0 0" xyz="0 -0.045 0"/>
		
		
		
		
		
		
		
		
		
		
		<parent link="camera_link"/>
		
		
		
		
		
		
		
		
		
		
		<child link="camera_rgb_frame"/>
		
		
		
		
		
	
	
	
	
	
	</joint>
	
	
	
	
	
	
	
	
	
	
	<link name="camera_rgb_frame"/>
	
	
	
	
	

	
	
	
	
	<joint name="camera_rgb_optical_frame_joint" type="fixed">
		
		
		
		
		
		
		
		
		<origin rpy="-1.571 0 -1.571" xyz="0 0 0"/>
		
		
		
		
		
		
		
		
		<parent link="camera_rgb_frame"/>
		
		
		
		
		
		
		
		
		<child link="camera_rgb_optical_frame"/>
		
		
		
		
	
	
	
	
	</joint>
	
	
	
	
	
	
	
	
	<link name="camera_rgb_optical_frame"/>
	
	
	
	

	
	
	
	<joint name="camera_depth_frame_joint" type="fixed">
		
		
		
		
		
		
		<origin rpy="0 0 0" xyz="0 -0.02 0.0"/>
		
		
		
		
		
		
		<parent link="camera_link"/>
		
		
		
		
		
		
		<child link="camera_depth_frame"/>
		
		
		
	
	
	
	</joint>
	
	
	
	
	
	
	<link name="camera_depth_frame"/>
	
	
	

	
	
	<joint name="camera_depth_optical_frame_joint" type="fixed">
		
		
		
		
		<origin rpy="-1.571 0 -1.571" xyz="0 0 0"/>
		
		
		
		
		<parent link="camera_depth_frame"/>
		
		
		
		
		<child link="camera_depth_optical_frame"/>
		
		
	
	
	</joint>
	
	
	
	
	<link name="camera_depth_optical_frame"/>
	
	

	
	<joint name="LARM_cb_jig_joint" type="fixed">
		
		
		<origin rpy="0 0 1.57" xyz="0 0.2 -0.2"/>
		
		
		<parent link="LARM_LINK6"/>
		
		
		<child link="LARM_cb_jig"/>
		
	
	</joint>
	
	
	<link name="LARM_cb_jig"/>
	

	<joint name="RARM_cb_jig_joint" type="fixed">
		<origin rpy="0 0 1.57" xyz="0 -0.2 -0.2"/>
		<parent link="RARM_LINK6"/>
		<child link="RARM_cb_jig"/>
	</joint>
	<link name="RARM_cb_jig"/>
</robot>
